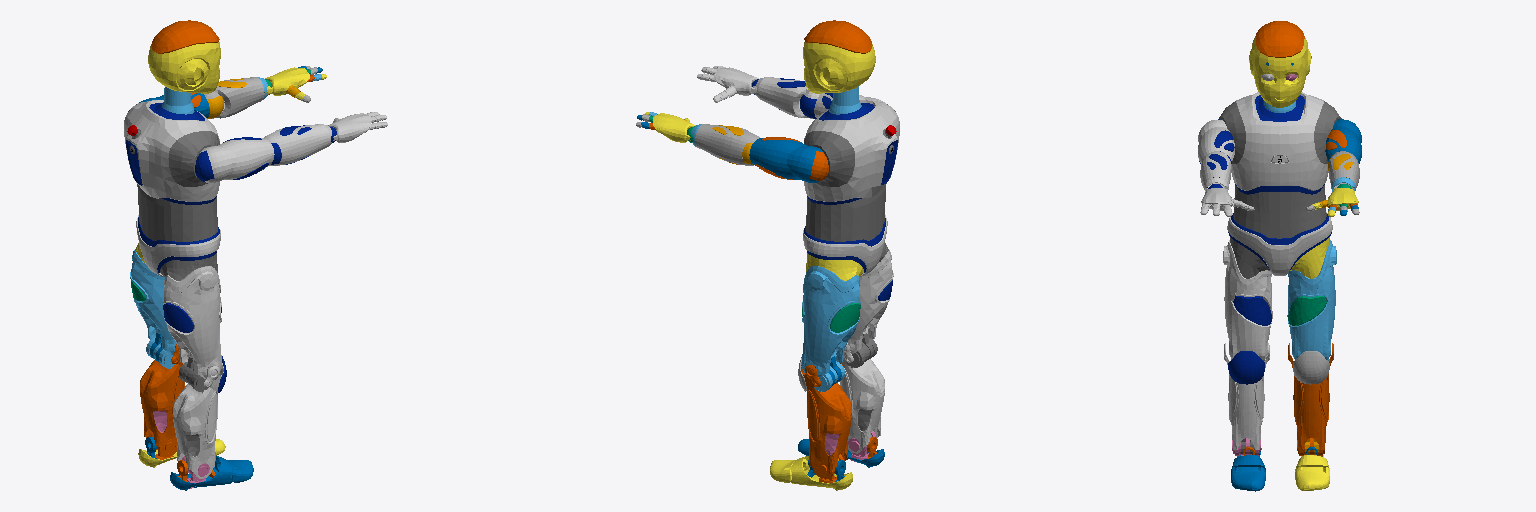
--- Render facts (derived) ---
3 views of the same robot in one strip: view 1: azimuth 30°, elevation 25°; view 2: azimuth 150°, elevation 25°; view 3: azimuth 270°, elevation 25° (orthographic).
Robot: RomeoH37 — 95 links, 94 joints (61 revolute, 33 fixed); root link base_link; default pose: all joints at 0.
Visible links, largest first — view 1: torso, RThigh, body, RTibia, HeadRoll_link, RShoulderYaw_link, LTibia, LThigh, RElbow, HeadRoll_shell, r_ankle, LElbow (+3 smaller); view 2: torso, body, LThigh, LTibia, RTibia, HeadRoll_link, RThigh, LShoulderYaw_link, RElbow, LElbow, HeadRoll_shell, l_ankle (+6 smaller); view 3: torso, body, RThigh, RTibia, LThigh, HeadRoll_link, LTibia, HeadRoll_shell, r_ankle, l_ankle, RShoulderYaw_link, LKneePitch_shell (+5 smaller).
Link boxes in pixels (box(x1,y1,x2,y2)): torso: box(124, 100, 219, 204); RThigh: box(160, 253, 221, 385); body: box(136, 184, 220, 276); RTibia: box(173, 356, 226, 478); HeadRoll_link: box(148, 42, 220, 93); RShoulderYaw_link: box(195, 137, 274, 182); LTibia: box(140, 344, 184, 453); LThigh: box(130, 250, 176, 354); RElbow: box(264, 124, 328, 165); HeadRoll_shell: box(151, 20, 219, 53); r_ankle: box(170, 456, 253, 490); LElbow: box(204, 77, 264, 118); torso: box(804, 99, 899, 204); body: box(803, 185, 887, 276); LThigh: box(802, 266, 860, 377); LTibia: box(801, 363, 851, 477); RTibia: box(840, 338, 884, 453); HeadRoll_link: box(803, 42, 875, 93); RThigh: box(847, 243, 893, 361); LShoulderYaw_link: box(749, 138, 823, 182); RElbow: box(759, 77, 819, 118); LElbow: box(695, 124, 759, 165); HeadRoll_shell: box(804, 20, 872, 53); l_ankle: box(770, 456, 852, 490); torso: box(1219, 92, 1341, 194); body: box(1227, 185, 1332, 275); RThigh: box(1223, 237, 1272, 359); RTibia: box(1224, 343, 1269, 453); LThigh: box(1287, 240, 1336, 359); HeadRoll_link: box(1249, 36, 1311, 107); LTibia: box(1288, 343, 1333, 453); HeadRoll_shell: box(1256, 21, 1304, 57); r_ankle: box(1231, 448, 1265, 491); l_ankle: box(1295, 454, 1329, 490); RShoulderYaw_link: box(1198, 119, 1234, 163); LKneePitch_shell: box(1293, 351, 1329, 384).
Size in the robot's own frame: 0.7703 by 0.4924 by 1.46 metres.
Meshes: 61 distinct files referenced, 61 mesh visuals loaded (22 Collada DAE, 39 OBJ).

URDF robot description (RomeoH37):
<?xml version="1.0" ?>
<!-- =================================================================================== -->
<!-- |    This document was autogenerated by xacro from romeo_robot.xacro              | -->
<!-- |    EDITING THIS FILE BY HAND IS NOT RECOMMENDED                                 | -->
<!-- =================================================================================== -->
<!--******************************************************************
 ****** File automatically generated by generate_urdf.py script ******
 *********************************************************************-->
<robot name="RomeoH37" xmlns:xacro="http://www.ros.org/wiki/xacro">
  <joint name="NeckYaw" type="revolute">
    <parent link="torso"/>
    <child link="NeckYaw_link"/>
    <origin rpy="0 -2.98023e-08 0" xyz="0.0548 0 0.1675"/>
    <axis xyz="0.173651 0 0.984807"/>
    <limit effort="27.72" lower="-2.0595" upper="2.0595" velocity="4.0"/>
  </joint>
  <link name="NeckYaw_link">
    <inertial>
      <mass value="0.377845"/>
      <inertia ixx="0.000279258" ixy="-3.10908e-07" ixz="-1.49231e-05" iyy="0.000260188" iyz="-8.07538e-07" izz="8.41479e-05"/>
      <origin rpy="0 0 0" xyz="-0.00635646 0 -0.030002"/>
    </inertial>
  </link>
  <joint name="NeckPitch" type="revolute">
    <parent link="NeckYaw_link"/>
    <child link="NeckPitch_link"/>
    <origin rpy="0 -2.98023e-08 0" xyz="0 0 0"/>
    <axis xyz="0 1.0 0"/>
    <limit effort="35.0" lower="-0.3142" upper="0.6632" velocity="2.2"/>
  </joint>
  <link name="NeckPitch_link">
    <inertial>
      <mass value="0.345282"/>
      <inertia ixx="0.000476367" ixy="-1.93678e-06" ixz="0.000128915" iyy="0.000443007" iyz="5.81865e-05" izz="0.000304636"/>
      <origin rpy="0 0 0" xyz="0.00372 0 0.04811"/>
    </inertial>
    <visual>
      <geometry>
        <mesh filename="meshes/NeckPitch.obj" scale="1 1 1"/>
      </geometry>
      <origin rpy="0 0 0" xyz="0 0 0"/>
    </visual>
    <collision>
      <geometry>
        <mesh filename="meshes/NeckPitch_0.10.stl" scale="1 1 1"/>
      </geometry>
      <origin rpy="0 0 0" xyz="0 0 0"/>
    </collision>
  </link>
  <joint name="HeadPitch" type="revolute">
    <parent link="NeckPitch_link"/>
    <child link="HeadPitch_link"/>
    <origin rpy="0 0 0" xyz="0 0 0.0951"/>
    <axis xyz="0 1.0 0"/>
    <limit effort="9.40" lower="-0.2571" upper="0.2971" velocity="1.9"/>
  </joint>
  <link name="HeadPitch_link">
    <inertial>
      <mass value="0.158407"/>
      <inertia ixx="2.57346e-05" ixy="1.51196e-07" ixz="-1.52238e-05" iyy="7.43865e-05" iyz="-4.91562e-09" izz="6.6769e-05"/>
      <origin rpy="0 0 0" xyz="0.0014 0 -0.00462"/>
    </inertial>
  </link>

  <!-- Head Roll and additional texture links -->
  <joint name="HeadRoll" type="revolute">
    <parent link="HeadPitch_link"/>
    <child link="HeadRoll_link"/>
    <origin rpy="0 0 0" xyz="0 0 0"/>
    <axis xyz="1.0 0 0"/>
    <limit effort="14.46" lower="-0.4887" upper="0.4887" velocity="1.5"/>
  </joint>
  <link name="HeadRoll_link">
    <inertial>
      <mass value="2.07047"/>
      <inertia ixx="0.00933153" ixy="-3.87986e-05" ixz="0.002764" iyy="0.0110877" iyz="0.000300351" izz="0.00918888"/>
      <origin rpy="0 0 0" xyz="0.01263 0 0.07498"/>
    </inertial>
    <visual>
      <geometry>
        <mesh filename="meshes/HeadRoll_mainskin.obj" scale="1 1 1"/>
      </geometry>
      <origin rpy="0 0 0" xyz="0 0 0"/>
    </visual>
    <collision>
      <geometry>
        <mesh filename="meshes/HeadRoll_0.10.stl" scale="1 1 1"/>
      </geometry>
      <origin rpy="0 0 0" xyz="0 0 0"/>
    </collision>
  </link>
  <joint name="HeadRoll_logo_joint" type="fixed">
    <parent link="HeadRoll_link"/>
    <child link="HeadRoll_logo"/>
    <origin rpy="0 0 0" xyz="0 0 0"/>
  </joint>
  <link name="HeadRoll_logo">
    <inertial>
      <mass value="0"/>
      <inertia ixx="0" ixy="0" ixz="0" iyy="0" iyz="0" izz="0"/>
      <origin rpy="0 0 0" xyz="0 0 0"/>
    </inertial>
    <visual>
      <geometry>
        <mesh filename="meshes/HeadRoll_logo.obj" scale="1 1 1"/>
      </geometry>
      <origin rpy="0 0 0" xyz="0 0 0"/>
    </visual>
  </link>
  <joint name="HeadRoll_shell_joint" type="fixed">
    <parent link="HeadRoll_link"/>
    <child link="HeadRoll_shell"/>
    <origin rpy="0 0 0" xyz="0 0 0"/>
  </joint>
  <link name="HeadRoll_shell">
    <inertial>
      <mass value="0"/>
      <inertia ixx="0" ixy="0" ixz="0" iyy="0" iyz="0" izz="0"/>
      <origin rpy="0 0 0" xyz="0 0 0"/>
    </inertial>
    <visual>
      <geometry>
        <mesh filename="meshes/HeadRoll_shell.obj" scale="1 1 1"/>
      </geometry>
      <origin rpy="0 0 0" xyz="0 0 0"/>
    </visual>
  </link>

  <joint name="gaze_joint" type="fixed">
    <parent link="HeadRoll_link"/>
    <child link="gaze"/>
    <origin rpy="0 0 0" xyz="0.10247 0 0.05425"/>
  </joint>
  <link name="gaze"/>
  <joint name="LHipYaw" type="revolute">
    <parent link="body"/>
    <child link="LHipYaw_link"/>
    <origin rpy="0 0 0" xyz="0.05 0.096 -0.3375"/>
    <axis xyz="0 0 1.0"/>
    <limit effort="103.03" lower="-0.2618" upper="0.2618" velocity="1.045"/>
  </joint>
  <link name="LHipYaw_link">
    <inertial>
      <mass value="0.559188"/>
      <inertia ixx="0.000865336" ixy="-1.1052e-06" ixz="-0.000251445" iyy="0.00143007" iyz="4.25093e-06" izz="0.000851928"/>
      <origin rpy="0 0 0" xyz="-0.00922 -0.00167 0.042"/>
    </inertial>
  </link>
  <joint name="LHipRoll" type="revolute">
    <parent link="LHipYaw_link"/>
    <child link="LHip"/>
    <origin rpy="0 0 0" xyz="0 0 0"/>
    <axis xyz="1.0 0 0"/>
    <limit effort="213.15" lower="-0.2618" upper="0.5236" velocity="2.09"/>
  </joint>
  <link name="LHip">
    <inertial>
      <mass value="0.714778"/>
      <inertia ixx="0.000937272" ixy="-6.73228e-06" ixz="-2.02714e-06" iyy="0.000548117" iyz="1.34974e-06" izz="0.00101855"/>
      <origin rpy="0 0 0" xyz="0.00249 -0.00205 -0.00147"/>
    </inertial>
  </link>

  <!-- LHipPitch joints and links -->
  <joint name="LHipPitch" type="revolute">
    <parent link="LHip"/>
    <child link="LThigh"/>
    <origin rpy="0 0 0" xyz="0 0 0"/>
    <axis xyz="0 1.0 0"/>
    <limit effort="213.15" lower="-1.6581" upper="0.4014" velocity="2.09"/>
  </joint>
  <link name="LThigh">
    <inertial>
      <mass value="4.71096"/>
      <inertia ixx="0.0390706" ixy="-2.41786e-05" ixz="0.0250104" iyy="0.0395116" iyz="0.000712271" izz="0.0122599"/>
      <origin rpy="0 0 0" xyz="-0.02138 -0.00255 -0.14577"/>
    </inertial>
    <visual>
      <geometry>
        <mesh filename="meshes/LHipPitch_mainskin.obj" scale="1 1 1"/>
      </geometry>
      <origin rpy="0 0 0" xyz="0 0 0"/>
    </visual>
    <collision>
      <geometry>
        <mesh filename="meshes/LHipPitch_0.10.stl" scale="1 1 1"/>
      </geometry>
      <origin rpy="0 0 0" xyz="0 0 0"/>
    </collision>
  </link>
  <joint name="LHipPitch_shell_joint" type="fixed">
    <parent link="LThigh"/>
    <child link="LHipPitch_shell"/>
    <origin rpy="0 0 0" xyz="0 0 0"/>
  </joint>
  <link name="LHipPitch_shell">
    <inertial>
      <mass value="0"/>
      <inertia ixx="0" ixy="0" ixz="0" iyy="0" iyz="0" izz="0"/>
      <origin rpy="0 0 0" xyz="0 0 0"/>
    </inertial>
    <visual>
      <geometry>
        <mesh filename="meshes/LHipPitch_shell.obj" scale="1 1 1"/>
      </geometry>
      <origin rpy="0 0 0" xyz="0 0 0"/>
    </visual>
  </link>
  <joint name="LHipPitch_flexibleskin_joint" type="fixed">
    <parent link="LThigh"/>
    <child link="LHipPitch_flexibleskin"/>
    <origin rpy="0 0 0" xyz="0 0 0"/>
  </joint>
  <link name="LHipPitch_flexibleskin">
    <inertial>
      <mass value="0"/>
      <inertia ixx="0" ixy="0" ixz="0" iyy="0" iyz="0" izz="0"/>
      <origin rpy="0 0 0" xyz="0 0 0"/>
    </inertial>
    <visual>
      <geometry>
        <mesh filename="meshes/LHipPitch_flexibleskin.obj" scale="1 1 1"/>
      </geometry>
      <origin rpy="0 0 0" xyz="0 0 0"/>
    </visual>
  </link>
  <joint name="LHipPitch_secondaryskin_joint" type="fixed">
    <parent link="LThigh"/>
    <child link="LHipPitch_secondaryskin"/>
    <origin rpy="0 0 0" xyz="0 0 0"/>
  </joint>
  <link name="LHipPitch_secondaryskin">
    <inertial>
      <mass value="0"/>
      <inertia ixx="0" ixy="0" ixz="0" iyy="0" iyz="0" izz="0"/>
      <origin rpy="0 0 0" xyz="0 0 0"/>
    </inertial>
    <visual>
      <geometry>
        <mesh filename="meshes/LHipPitch_secondaryskin.obj" scale="1 1 1"/>
      </geometry>
      <origin rpy="0 0 0" xyz="0 0 0"/>
    </visual>
  </link>

  <!-- LKneePitch joints and links -->
  <joint name="LKneePitch" type="revolute">
    <parent link="LThigh"/>
    <child link="LTibia"/>
    <origin rpy="0 0 0" xyz="0 0 -0.322"/>
    <axis xyz="0 1.0 0"/>
    <limit effort="292.50" lower="-0.0218" upper="1.9722" velocity="6.0"/>
  </joint>
  <link name="LTibia">
    <inertial>
      <mass value="2.72291"/>
      <inertia ixx="0.0159124" ixy="5.49385e-08" ixz="0.00301963" iyy="0.0158076" iyz="-6.1473e-06" izz="0.00369233"/>
      <origin rpy="0 0 0" xyz="-0.00415 -0.00054 -0.11011"/>
    </inertial>
    <visual>
      <geometry>
        <mesh filename="meshes/LKneePitch_mainskin.obj" scale="1 1 1"/>
      </geometry>
      <origin rpy="0 0 0" xyz="0 0 0"/>
    </visual>
    <collision>
      <geometry>
        <mesh filename="meshes/LKneePitch_0.10.stl" scale="1 1 1"/>
      </geometry>
      <origin rpy="0 0 0" xyz="0 0 0"/>
    </collision>
  </link>
  <joint name="LKneePitch_secondaryskin_joint" type="fixed">
    <parent link="LTibia"/>
    <child link="LKneePitch_secondaryskin"/>
    <origin rpy="0 0 0" xyz="0 0 0"/>
  </joint>
  <link name="LKneePitch_secondaryskin">
    <inertial>
      <mass value="0"/>
      <inertia ixx="0" ixy="0" ixz="0" iyy="0" iyz="0" izz="0"/>
      <origin rpy="0 0 0" xyz="0 0 0"/>
    </inertial>
    <visual>
      <geometry>
        <mesh filename="meshes/LKneePitch_secondaryskin.obj" scale="1 1 1"/>
      </geometry>
      <origin rpy="0 0 0" xyz="0 0 0"/>
    </visual>
  </link>
  <joint name="LKneePitch_shell_joint" type="fixed">
    <parent link="LTibia"/>
    <child link="LKneePitch_shell"/>
    <origin rpy="0 0 0" xyz="0 0 0"/>
  </joint>
  <link name="LKneePitch_shell">
    <inertial>
      <mass value="0"/>
      <inertia ixx="0" ixy="0" ixz="0" iyy="0" iyz="0" izz="0"/>
      <origin rpy="0 0 0" xyz="0 0 0"/>
    </inertial>
    <visual>
      <geometry>
        <mesh filename="meshes/LKneePitch_shell.obj" scale="1 1 1"/>
      </geometry>
      <origin rpy="0 0 0" xyz="0 0 0"/>
    </visual>
  </link>
  <joint name="LKneePitch_secondaryskin2_joint" type="fixed">
    <parent link="LTibia"/>
    <child link="LKneePitch_secondaryskin2"/>
    <origin rpy="0 0 0" xyz="0 0 0"/>
  </joint>
  <link name="LKneePitch_secondaryskin2">
    <inertial>
      <mass value="0"/>
      <inertia ixx="0" ixy="0" ixz="0" iyy="0" iyz="0" izz="0"/>
      <origin rpy="0 0 0" xyz="0 0 0"/>
    </inertial>
    <visual>
      <geometry>
        <mesh filename="meshes/LKneePitch_secondaryskin2.obj" scale="1 1 1"/>
      </geometry>
      <origin rpy="0 0 0" xyz="0 0 0"/>
    </visual>
  </link>
  <joint name="LKneePitch_secondaryskin3_joint" type="fixed">
    <parent link="LTibia"/>
    <child link="LKneePitch_secondaryskin3"/>
    <origin rpy="0 0 0" xyz="0 0 0"/>
  </joint>
  <link name="LKneePitch_secondaryskin3">
    <inertial>
      <mass value="0"/>
      <inertia ixx="0" ixy="0" ixz="0" iyy="0" iyz="0" izz="0"/>
      <origin rpy="0 0 0" xyz="0 0 0"/>
    </inertial>
    <visual>
      <geometry>
        <mesh filename="meshes/LKneePitch_secondaryskin3.obj" scale="1 1 1"/>
      </geometry>
      <origin rpy="0 0 0" xyz="0 0 0"/>
    </visual>
  </link>

  <joint name="LAnklePitch" type="revolute">
    <parent link="LTibia"/>
    <child link="LAnklePitch_link"/>
    <origin rpy="0 0 0" xyz="0 0 -0.29"/>
    <axis xyz="0 1.0 0"/>
    <limit effort="213.15" lower="-0.5149" upper="0.7505" velocity="2.1"/>
  </joint>
  <link name="LAnklePitch_link">
    <inertial>
      <mass value="0.464512"/>
      <inertia ixx="0.000367336" ixy="-1.174e-07" ixz="1.0441e-07" iyy="0.000239298" iyz="-1.23189e-06" izz="0.000425531"/>
      <origin rpy="0 0 0" xyz="0.00132 -0.00117 0.00015"/>
    </inertial>
  </link>

  <!-- LAnkleRoll joints and links -->
  <joint name="LAnkleRoll" type="revolute">
    <parent link="LAnklePitch_link"/>
    <child link="l_ankle"/>
    <origin rpy="0 0 0" xyz="0 0 0"/>
    <axis xyz="1.0 0 0"/>
    <limit effort="213.15" lower="-0.3491" upper="0.3491" velocity="2.1"/>
  </joint>
  <link name="l_ankle">
    <inertial>
      <mass value="1.06764"/>
      <inertia ixx="0.000978167" ixy="-4.97135e-05" ixz="-0.000879138" iyy="0.00586633" iyz="6.13291e-05" izz="0.00589599"/>
      <origin rpy="0 0 0" xyz="0.0483878 0.00120158 -0.0367645"/>
    </inertial>
    <visual>
      <geometry>
        <mesh filename="meshes/LAnkleRoll_mainskin.obj" scale="1 1 1"/>
      </geometry>
      <origin rpy="0 0 0" xyz="0 0 0"/>
    </visual>
    <collision>
      <geometry>
        <mesh filename="meshes/LAnkleRoll_0.10.stl" scale="1 1 1"/>
      </geometry>
      <origin rpy="0 0 0" xyz="0 0 0"/>
    </collision>
  </link>
  <joint name="LAnkleRoll_secondaryskin_joint" type="fixed">
    <parent link="l_ankle"/>
    <child link="LAnkleRoll_secondaryskin"/>
    <origin rpy="0 0 0" xyz="0 0 0"/>
  </joint>
  <link name="LAnkleRoll_secondaryskin">
    <inertial>
      <mass value="0"/>
      <inertia ixx="0" ixy="0" ixz="0" iyy="0" iyz="0" izz="0"/>
      <origin rpy="0 0 0" xyz="0 0 0"/>
    </inertial>
    <visual>
      <geometry>
        <mesh filename="meshes/LAnkleRoll_secondaryskin.obj" scale="1 1 1"/>
      </geometry>
      <origin rpy="0 0 0" xyz="0 0 0"/>
    </visual>
  </link>
  <joint name="LAnkleRoll_secondaryskin2_joint" type="fixed">
    <parent link="l_ankle"/>
    <child link="LAnkleRoll_secondaryskin2"/>
    <origin rpy="0 0 0" xyz="0 0 0"/>
  </joint>
  <link name="LAnkleRoll_secondaryskin2">
    <inertial>
      <mass value="0"/>
      <inertia ixx="0" ixy="0" ixz="0" iyy="0" iyz="0" izz="0"/>
      <origin rpy="0 0 0" xyz="0 0 0"/>
    </inertial>
    <visual>
      <geometry>
        <mesh filename="meshes/LAnkleRoll_secondaryskin2.obj" scale="1 1 1"/>
      </geometry>
      <origin rpy="0 0 0" xyz="0 0 0"/>
    </visual>
  </link>


  <joint name="LLeg_effector_fixedjoint" type="fixed">
    <parent link="l_ankle"/>
    <child link="l_sole"/>
    <origin rpy="0 0 0" xyz="0 0 -0.0651"/>
    <axis xyz="0 0 0"/>
  </joint>
  <link name="l_sole"/>
  <joint name="RHipYaw" type="revolute">
    <parent link="body"/>
    <child link="RHipYaw_link"/>
    <origin rpy="0 0 0" xyz="0.05 -0.096 -0.3375"/>
    <axis xyz="0 0 1.0"/>
    <limit effort="103.03" lower="-0.2618" upper="0.2618" velocity="1.045"/>
  </joint>
  <link name="RHipYaw_link">
    <inertial>
      <mass value="0.559188"/>
      <inertia ixx="0.000865336" ixy="-1.83253e-05" ixz="-0.000251445" iyy="0.00143007" iyz="8.26938e-05" izz="0.000851928"/>
      <origin rpy="0 0 0" xyz="-0.00922 0.00167 0.042"/>
    </inertial>
  </link>
  <joint name="RHipRoll" type="revolute">
    <parent link="RHipYaw_link"/>
    <child link="RHip"/>
    <origin rpy="0 0 0" xyz="0 0 0"/>
    <axis xyz="1.0 0 0"/>
    <limit effort="213.15" lower="-0.5236" upper="0.2618" velocity="2.09"/>
  </joint>
  <link name="RHip">
    <inertial>
      <mass value="0.714778"/>
      <inertia ixx="0.000937272" ixy="5.64884e-07" ixz="-2.02714e-06" iyy="0.000548117" iyz="-2.95823e-06" izz="0.00101855"/>
      <origin rpy="0 0 0" xyz="0.00249 0.00205 -0.00147"/>
    </inertial>
  </link>
  <joint name="RHipPitch" type="revolute">
    <parent link="RHip"/>
    <child link="RThigh"/>
    <origin rpy="0 0 0" xyz="0 0 0"/>
    <axis xyz="0 1.0 0"/>
    <limit effort="213.15" lower="-1.6581" upper="0.4014" velocity="2.09"/>
  </joint>
  <link name="RThigh">
    <inertial>
      <mass value="4.71096"/>
      <inertia ixx="0.0390706" ixy="-0.000537853" ixz="0.0250104" iyy="0.0395116" iyz="-0.00278999" izz="0.0122599"/>
      <origin rpy="0 0 0" xyz="-0.02138 0.00255 -0.14577"/>
    </inertial>
    <visual>
      <geometry>
        <mesh filename="meshes/RHipPitch.dae" scale="1 1 1"/>
      </geometry>
      <origin rpy="0 0 0" xyz="0 0 0"/>
    </visual>
    <collision>
      <geometry>
        <mesh filename="meshes/RHipPitch_0.10.stl" scale="1 1 1"/>
      </geometry>
      <origin rpy="0 0 0" xyz="0 0 0"/>
    </collision>
  </link>
  <joint name="RKneePitch" type="revolute">
    <parent link="RThigh"/>
    <child link="RTibia"/>
    <origin rpy="0 0 0" xyz="0 0 -0.322"/>
    <axis xyz="0 1.0 0"/>
    <limit effort="292.50" lower="-0.0218" upper="1.9722" velocity="6.0"/>
  </joint>
  <link name="RTibia">
    <inertial>
      <mass value="2.72291"/>
      <inertia ixx="0.0159124" ixy="-1.21492e-05" ixz="0.00301963" iyy="0.0158076" iyz="-0.000329953" izz="0.00369233"/>
      <origin rpy="0 0 0" xyz="-0.00415 0.00054 -0.11011"/>
    </inertial>
    <visual>
      <geometry>
        <mesh filename="meshes/RKneePitch.dae" scale="1 1 1"/>
      </geometry>
      <origin rpy="0 0 0" xyz="0 0 0"/>
    </visual>
    <collision>
      <geometry>
        <mesh filename="meshes/RKneePitch_0.10.stl" scale="1 1 1"/>
      </geometry>
      <origin rpy="0 0 0" xyz="0 0 0"/>
    </collision>
  </link>
  <joint name="RAnklePitch" type="revolute">
    <parent link="RTibia"/>
    <child link="RAnklePitch_link"/>
    <origin rpy="0 0 0" xyz="0 0 -0.29"/>
    <axis xyz="0 1.0 0"/>
    <limit effort="213.15" lower="-0.5149" upper="0.7505" velocity="2.1"/>
  </joint>
  <link name="RAnklePitch_link">
    <inertial>
      <mass value="0.464512"/>
      <inertia ixx="0.000367336" ixy="1.31739e-06" ixz="1.0441e-07" iyy="0.000239298" iyz="-1.06885e-06" izz="0.000425531"/>
      <origin rpy="0 0 0" xyz="0.00132 0.00117 0.00015"/>
    </inertial>
  </link>

  <!-- RAnkleRoll joints and links -->
  <joint name="RAnkleRoll" type="revolute">
    <parent link="RAnklePitch_link"/>
    <child link="r_ankle"/>
    <origin rpy="0 0 0" xyz="0 0 0"/>
    <axis xyz="1.0 0 0"/>
    <limit effort="213.15" lower="-0.3491" upper="0.3491" velocity="2.1"/>
  </joint>
  <link name="r_ankle">
    <inertial>
      <mass value="1.06764"/>
      <inertia ixx="0.000978167" ixy="-0.000173863" ixz="-0.000879138" iyy="0.00586633" iyz="0.000155656" izz="0.00589599"/>
      <origin rpy="0 0 0" xyz="0.0483878 -0.00120158 -0.0367645"/>
    </inertial>
    <visual>
      <geometry>
        <mesh filename="meshes/RAnkleRoll_mainskin.obj" scale="1 1 1"/>
      </geometry>
      <origin rpy="0 0 0" xyz="0 0 0"/>
    </visual>
    <collision>
      <geometry>
        <mesh filename="meshes/RAnkleRoll_0.10.stl" scale="1 1 1"/>
      </geometry>
      <origin rpy="0 0 0" xyz="0 0 0"/>
    </collision>
  </link>
  <joint name="RAnkleRoll_secondaryskin_joint" type="fixed">
    <parent link="r_ankle"/>
    <child link="RAnkleRoll_secondaryskin"/>
    <origin rpy="0 0 0" xyz="0 0 0"/>
  </joint>
  <link name="RAnkleRoll_secondaryskin">
    <inertial>
      <mass value="0"/>
      <inertia ixx="0" ixy="0" ixz="0" iyy="0" iyz="0" izz="0"/>
      <origin rpy="0 0 0" xyz="0 0 0"/>
    </inertial>
    <visual>
      <geometry>
        <mesh filename="meshes/RAnkleRoll_secondaryskin.obj" scale="1 1 1"/>
      </geometry>
      <origin rpy="0 0 0" xyz="0 0 0"/>
    </visual>
  </link>
  <joint name="RAnkleRoll_secondaryskin2_joint" type="fixed">
    <parent link="r_ankle"/>
    <child link="RAnkleRoll_secondaryskin2"/>
    <origin rpy="0 0 0" xyz="0 0 0"/>
  </joint>
  <link name="RAnkleRoll_secondaryskin2">
    <inertial>
      <mass value="0"/>
      <inertia ixx="0" ixy="0" ixz="0" iyy="0" iyz="0" izz="0"/>
      <origin rpy="0 0 0" xyz="0 0 0"/>
    </inertial>
    <visual>
      <geometry>
        <mesh filename="meshes/RAnkleRoll_secondaryskin2.obj" scale="1 1 1"/>
      </geometry>
      <origin rpy="0 0 0" xyz="0 0 0"/>
    </visual>
  </link>

  <joint name="RLeg_effector_fixedjoint" type="fixed">
    <parent link="r_ankle"/>
    <child link="r_sole"/>
    <origin rpy="0 0 0" xyz="0 0 -0.0651"/>
    <axis xyz="0 0 0"/>
  </joint>
  <link name="r_sole"/>
  <link name="base_link"/>
  <joint name="base_link_fixedjoint" type="fixed">
    <parent link="base_link"/>
    <child link="torso"/>
    <origin rpy="0 0 0" xyz="0 0 0"/>
    <axis xyz="0 0 0"/>
  </joint>
  <link name="torso">
    <inertial>
      <mass value="5.85463"/>
      <inertia ixx="0.0587116" ixy="-3.02711e-06" ixz="0.0101426" iyy="0.0326812" iyz="-0.000132541" izz="0.0637705"/>
      <origin rpy="0 0 0" xyz="0.01512 0 0.06743"/>
    </inertial>
    <visual>
      <geometry>
        <mesh filename="meshes/Torso.dae" scale="1 1 1"/>
      </geometry>
      <origin rpy="0 0 0" xyz="0 0 0"/>
    </visual>
    <collision>
      <geometry>
        <mesh filename="meshes/Torso_0.10.stl" scale="1 1 1"/>
      </geometry>
      <origin rpy="0 0 0" xyz="0 0 0"/>
    </collision>
  </link>
  <joint name="TrunkYaw" type="revolute">
    <parent link="torso"/>
    <child link="body"/>
    <origin rpy="0 0 0" xyz="0 0 0"/>
    <axis xyz="0 0 1.0"/>
    <limit effort="49.93" lower="-0.7575" upper="0.7575" velocity="1.5"/>
  </joint>
  <link name="body">
    <inertial>
      <mass value="5.11337"/>
      <inertia ixx="0.0564204" ixy="7.26322e-05" ixz="-0.0575115" iyy="0.0521042" iyz="-3.39086e-05" izz="0.021185"/>
      <origin rpy="0 0 0" xyz="0.02825 0 -0.16653"/>
    </inertial>
    <visual>
      <geometry>
        <mesh filename="meshes/TrunkYaw.dae" scale="1 1 1"/>
      </geometry>
      <origin rpy="0 0 0" xyz="0 0 0"/>
    </visual>
    <collision>
      <geometry>
        <mesh filename="meshes/TrunkYaw_0.10.stl" scale="1 1 1"/>
      </geometry>
      <origin rpy="0 0 0" xyz="0 0 0"/>
    </collision>
  </link>
  <joint name="LShoulderPitch" type="revolute">
    <parent link="torso"/>
    <child link="LShoulder"/>
    <origin rpy="1.49012e-08 7.45058e-09 0" xyz="0.049862 0.19 0.073851"/>
    <axis xyz="0.417025 0.895055 -0.15801"/>
    <limit effort="21.94" lower="-1.3491" upper="2.2462" velocity="2.2"/>
  </joint>
  <link name="LShoulder">
    <inertial>
      <mass value="0.541429"/>
      <inertia ixx="0.00033428" ixy="-9.92972e-05" ixz="9.98217e-06" iyy="0.000188073" iyz="2.14339e-05" izz="0.000360929"/>
      <origin rpy="0 0 0" xyz="-0.0112798 -0.0260712 0.00468882"/>
    </inertial>
  </link>

  <!-- LShoulderYaw links and joints -->
  <joint name="LShoulderYaw" type="revolute">
    <parent link="LShoulder"/>
    <child link="LShoulderYaw_link"/>
    <origin rpy="2.98023e-08 1.11759e-08 -5.58793e-08" xyz="0 0 0"/>
    <axis xyz="0.0401398 0.155542 0.987013"/>
    <limit effort="15.16" lower="-0.5768" upper="0.9242" velocity="4.0"/>
  </joint>
  <link name="LShoulderYaw_link">
    <inertial>
      <mass value="0.861545"/>
      <inertia ixx="0.00118557" ixy="0.000596133" ixz="0.0011173" iyy="0.00312162" iyz="-2.05919e-05" izz="0.00289955"/>
      <origin rpy="0 0 0" xyz="0.0965281 0.00465308 0.00168775"/>
    </inertial>
    <visual>
      <geometry>
        <mesh filename="meshes/LShoulderYaw_mainskin.obj" scale="1 1 1"/>
      </geometry>
      <origin rpy="0 0 0" xyz="0 0 0"/>
    </visual>
    <collision>
      <geometry>
        <mesh filename="meshes/LShoulderYaw_0.10.stl" scale="1 1 1"/>
      </geometry>
      <origin rpy="0 0 0" xyz="0 0 0"/>
    </collision>
  </link>
  <joint name="LShoulderYaw_shell_joint" type="fixed">
    <parent link="LShoulderYaw_link"/>
    <child link="LShoulderYaw_shell"/>
    <origin rpy="0 0 0" xyz="0 0 0"/>
  </joint>
  <link name="LShoulderYaw_shell">
    <inertial>
      <mass value="0"/>
      <inertia ixx="0" ixy="0" ixz="0" iyy="0" iyz="0" izz="0"/>
      <origin rpy="0 0 0" xyz="0 0 0"/>
    </inertial>
    <visual>
      <geometry>
        <mesh filename="meshes/LShoulderYaw_shell.obj" scale="1 1 1"/>
      </geometry>
      <origin rpy="0 0 0" xyz="0 0 0"/>
    </visual>
  </link>

  <joint name="LElbowRoll" type="revolute">
    <parent link="LShoulderYaw_link"/>
    <child link="LForeArm"/>
    <origin rpy="-2.56114e-09 0 -9.31322e-09" xyz="0.210824 7.40511e-09 -0.008631"/>
    <axis xyz="0.998889 0.0139984 0.044995"/>
    <limit effort="13.86" lower="-2.2148" upper="1.9042" velocity="3.7"/>
  </joint>
  <link name="LForeArm">
    <inertial>
      <mass value="0.600439"/>
      <inertia ixx="0.000207598" ixy="1.2053e-05" ixz="-1.86312e-05" iyy="0.000507683" iyz="1.56171e-06" izz="0.000456309"/>
      <origin rpy="0 0 0" xyz="-0.0348859 -0.0011589 -0.00148134"/>
    </inertial>
  </link>

  <!-- LElbowYaw joints and links -->
  <joint name="LElbowYaw" type="revolute">
    <parent link="LForeArm"/>
    <child link="LElbow"/>
    <origin rpy="-1.49504e-08 -1.86264e-08 2.12577e-09" xyz="0 0 0"/>
    <axis xyz="-0.0449994 0 0.998987"/>
    <limit effort="15.16" lower="-1.5228" upper="0.0044" velocity="4.0"/>
  </joint>
  <link name="LElbow">
    <inertial>
      <mass value="0.460203"/>
      <inertia ixx="0.000503576" ixy="0.000585803" ixz="3.19975e-05" iyy="0.00127777" iyz="3.67296e-05" izz="0.00122813"/>
      <origin rpy="0 0 0" xyz="0.068523 0.0097 0.00458766"/>
    </inertial>
    <visual>
      <geometry>
        <mesh filename="meshes/LElbowYaw_mainskin.obj" scale="1 1 1"/>
      </geometry>
      <origin rpy="0 0 0" xyz="0 0 0"/>
    </visual>
    <collision>
      <geometry>
        <mesh filename="meshes/LElbowYaw_0.10.stl" scale="1 1 1"/>
      </geometry>
      <origin rpy="0 0 0" xyz="0 0 0"/>
    </collision>
  </link>
  <joint name="LElbowYaw_shell_joint" type="fixed">
    <parent link="LElbow"/>
    <child link="LElbowYaw_shell"/>
    <origin rpy="0 0 0" xyz="0 0 0"/>
  </joint>
  <link name="LElbowYaw_shell">
    <inertial>
      <mass value="0"/>
      <inertia ixx="0" ixy="0" ixz="0" iyy="0" iyz="0" izz="0"/>
      <origin rpy="0 0 0" xyz="0 0 0"/>
    </inertial>
    <visual>
      <geometry>
        <mesh filename="meshes/LElbowYaw_shell.obj" scale="1 1 1"/>
      </geometry>
      <origin rpy="0 0 0" xyz="0 0 0"/>
    </visual>
  </link>

  <joint name="LWristRoll" type="revolute">
    <parent link="LElbow"/>
    <child link="LWristRoll_link"/>
    <origin rpy="0 -7.45058e-09 0" xyz="0.190404 0 0.008631"/>
    <axis xyz="0.998987 0 0.0449994"/>
    <limit effort="7.23" lower="-3.6303" upper="0.4887" velocity="1.1"/>
  </joint>
  <link name="LWristRoll_link">
    <inertial>
      <mass value="0.218316"/>
      <inertia ixx="0.000100812" ixy="-1.81881e-06" ixz="-4.56681e-05" iyy="0.000384336" iyz="-1.11019e-07" izz="0.000366084"/>
      <origin rpy="0 0 0" xyz="-0.0592449 6e-05 -0.00144745"/>
    </inertial>
    <visual>
      <geometry>
        <mesh filename="meshes/LWristRoll.obj" scale="1 1 1"/>
      </geometry>
      <origin rpy="0 0 0" xyz="0 0 0"/>
    </visual>
    <collision>
      <geometry>
        <mesh filename="meshes/LWristRoll_0.10.stl" scale="1 1 1"/>
      </geometry>
      <origin rpy="0 0 0" xyz="0 0 0"/>
    </collision>
  </link>
  <joint name="LWristYaw" type="revolute">
    <parent link="LWristRoll_link"/>
    <child link="LWristYaw_link"/>
    <origin rpy="0 0 0" xyz="0 0 0"/>
    <axis xyz="-0.0449994 0 0.998987"/>
    <limit effort="2.01" lower="-0.4014" upper="0.4014" velocity="2.26"/>
  </joint>
  <link name="LWristYaw_link">
    <inertial>
      <mass value="0.0758774"/>
      <inertia ixx="1.55687e-05" ixy="-5.1829e-08" ixz="-8.72923e-07" iyy="3.52487e-05" iyz="1.94513e-08" izz="3.4791e-05"/>
      <origin rpy="0 0 0" xyz="-0.00657144 0.00017 -0.000115829"/>
    </inertial>
    <visual>
      <geometry>
        <mesh filename="meshes/LWristYaw.obj" scale="1 1 1"/>
      </geometry>
      <origin rpy="0 0 0" xyz="0 0 0"/>
    </visual>
    <collision>
      <geometry>
        <mesh filename="meshes/LWristYaw_0.10.stl" scale="1 1 1"/>
      </geometry>
      <origin rpy="0 0 0" xyz="0 0 0"/>
    </collision>
  </link>
  <joint name="LWristPitch" type="revolute">
    <parent link="LWristYaw_link"/>
    <child link="l_wrist"/>
    <origin rpy="0 0 0" xyz="0 0 0"/>
    <axis xyz="0 1.0 0"/>
    <limit effort="1.39" lower="-0.988" upper="0.8969" velocity="3.75"/>
  </joint>
  <link name="l_wrist">
    <inertial>
      <mass value="0.442191"/>
      <inertia ixx="0.000404603" ixy="-0.000404247" ixz="1.89685e-05" iyy="0.000829354" iyz="7.81042e-05" izz="0.00102014"/>
      <origin rpy="0 0 0" xyz="0.07358 -0.00628 -0.00098"/>
    </inertial>
    <visual>
      <geometry>
        <mesh filename="meshes/LWristPitch.obj" scale="1 1 1"/>
      </geometry>
      <origin rpy="0 0 0" xyz="0 0 0"/>
    </visual>
    <collision>
      <geometry>
        <mesh filename="meshes/LWristPitch_0.10.stl" scale="1 1 1"/>
      </geometry>
      <origin rpy="0 0 0" xyz="0 0 0"/>
    </collision>
  </link>
  <joint name="LHand" type="revolute">
    <parent link="l_wrist"/>
    <child link="l_gripper"/>
    <origin rpy="1.5708 0.0450146 -3.14159" xyz="-0.0579412 -0.0159 -0.00260997"/>
    <axis xyz="1.0 0 0"/>
    <limit effort="0.649997" lower="0" upper="1.0" velocity="59.8925"/>
  </joint>
  <link name="l_gripper">
    <inertial>
      <mass value="2e-06"/>
      <inertia ixx="1.1e-09" ixy="0" ixz="0" iyy="1.1e-09" iyz="0" izz="1.1e-09"/>
    </inertial>
  </link>
  <joint name="RShoulderPitch" type="revolute">
    <parent link="torso"/>
    <child link="RShoulder"/>
    <origin rpy="-1.49012e-08 7.45058e-09 0" xyz="0.049862 -0.19 0.073851"/>
    <axis xyz="-0.417025 0.895055 0.15801"/>
    <limit effort="21.94" lower="-1.4554" upper="2.1399" velocity="2.2"/>
  </joint>
  <link name="RShoulder">
    <inertial>
      <mass value="0.541429"/>
      <inertia ixx="0.00032868" ixy="0.000102539" ixz="1.9336e-05" iyy="0.000199958" iyz="-3.81835e-05" izz="0.000354645"/>
      <origin rpy="0 0 0" xyz="-0.0112798 0.0260712 0.00468882"/>
    </inertial>
  </link>
  <joint name="RShoulderYaw" type="revolute">
    <parent link="RShoulder"/>
    <child link="RShoulderYaw_link"/>
    <origin rpy="-2.98023e-08 1.49012e-08 -6.42613e-08" xyz="0 0 0"/>
    <axis xyz="0.0401398 -0.155542 0.987014"/>
    <limit effort="15.16" lower="-1.0985" upper="0.4025" velocity="4.0"/>
  </joint>
  <link name="RShoulderYaw_link">
    <inertial>
      <mass value="0.861545"/>
      <inertia ixx="0.00118857" ixy="-0.00036285" ixz="0.001154" iyy="0.00311916" iyz="1.86519e-05" izz="0.002899"/>
      <origin rpy="0 0 0" xyz="0.0965281 -0.00465308 0.00168775"/>
    </inertial>
    <visual>
      <geometry>
        <mesh filename="meshes/RShoulderYaw.dae" scale="1 1 1"/>
      </geometry>
      <origin rpy="0 0 0" xyz="0 0 0"/>
    </visual>
    <collision>
      <geometry>
        <mesh filename="meshes/RShoulderYaw_0.10.stl" scale="1 1 1"/>
      </geometry>
      <origin rpy="0 0 0" xyz="0 0 0"/>
    </collision>
  </link>
  <joint name="RElbowRoll" type="revolute">
    <parent link="RShoulderYaw_link"/>
    <child link="RForeArm"/>
    <origin rpy="6.69388e-09 7.45058e-09 -7.91624e-08" xyz="0.210824 -1.48548e-08 -0.008631"/>
    <axis xyz="0.998889 -0.0139984 0.044995"/>
    <limit effort="13.86" lower="-1.9047" upper="2.2143" velocity="3.7"/>
  </joint>
  <link name="RForeArm">
    <inertial>
      <mass value="0.600439"/>
      <inertia ixx="0.000207722" ixy="-7.62167e-06" ixz="-1.85932e-05" iyy="0.000507556" iyz="9.54211e-07" izz="0.000456313"/>
      <origin rpy="0 0 0" xyz="-0.0348859 0.0011589 -0.00148134"/>
    </inertial>
  </link>
  <joint name="RElbowYaw" type="revolute">
    <parent link="RForeArm"/>
    <child link="RElbow"/>
    <origin rpy="1.49504e-08 -1.86264e-08 -2.12577e-09" xyz="0 0 0"/>
    <axis xyz="-0.0449994 0 0.998987"/>
    <limit effort="15.16" lower="-0.0047" upper="1.5225" velocity="4.0"/>
  </joint>
  <link name="RElbow">
    <inertial>
      <mass value="0.460203"/>
      <inertia ixx="0.000503576" ixy="-2.59661e-05" ixz="3.19975e-05" iyy="0.00127777" iyz="-4.2287e-06" izz="0.00122813"/>
      <origin rpy="0 0 0" xyz="0.068523 -0.0097 0.00458766"/>
    </inertial>
    <visual>
      <geometry>
        <mesh filename="meshes/RElbowYaw.dae" scale="1 1 1"/>
      </geometry>
      <origin rpy="0 0 0" xyz="0 0 0"/>
    </visual>
    <collision>
      <geometry>
        <mesh filename="meshes/RElbowYaw_0.10.stl" scale="1 1 1"/>
      </geometry>
      <origin rpy="0 0 0" xyz="0 0 0"/>
    </collision>
  </link>
  <joint name="RWristRoll" type="revolute">
    <parent link="RElbow"/>
    <child link="RWristRoll_link"/>
    <origin rpy="0 -7.45058e-09 0" xyz="0.190404 0 0.008631"/>
    <axis xyz="0.998987 0 0.0449994"/>
    <limit effort="7.23" lower="-0.4887" upper="3.6303" velocity="1.1"/>
  </joint>
  <link name="RWristRoll_link">
    <inertial>
      <mass value="0.218316"/>
      <inertia ixx="0.000100812" ixy="-2.66721e-07" ixz="-4.56681e-05" iyy="0.000384336" iyz="-7.30984e-08" izz="0.000366084"/>
      <origin rpy="0 0 0" xyz="-0.0592449 -6e-05 -0.00144745"/>
    </inertial>
    <visual>
      <geometry>
        <mesh filename="meshes/RWristRoll.dae" scale="1 1 1"/>
      </geometry>
      <origin rpy="0 0 0" xyz="0 0 0"/>
    </visual>
    <collision>
      <geometry>
        <mesh filename="meshes/RWristRoll_0.10.stl" scale="1 1 1"/>
      </geometry>
      <origin rpy="0 0 0" xyz="0 0 0"/>
    </collision>
  </link>
  <joint name="RWristYaw" type="revolute">
    <parent link="RWristRoll_link"/>
    <child link="RWristYaw_link"/>
    <origin rpy="0 0 0" xyz="0 0 0"/>
    <axis xyz="-0.0449994 0 0.998987"/>
    <limit effort="2.01" lower="-0.4014" upper="0.4014" velocity="2.26"/>
  </joint>
  <link name="RWristYaw_link">
    <inertial>
      <mass value="0.0758774"/>
      <inertia ixx="1.55687e-05" ixy="1.17703e-07" ixz="-8.72923e-07" iyy="3.52487e-05" iyz="2.24395e-08" izz="3.4791e-05"/>
      <origin rpy="0 0 0" xyz="-0.00657144 -0.00017 -0.000115829"/>
    </inertial>
    <visual>
      <geometry>
        <mesh filename="meshes/RWristYaw.dae" scale="1 1 1"/>
      </geometry>
      <origin rpy="0 0 0" xyz="0 0 0"/>
    </visual>
    <collision>
      <geometry>
        <mesh filename="meshes/RWristYaw_0.10.stl" scale="1 1 1"/>
      </geometry>
      <origin rpy="0 0 0" xyz="0 0 0"/>
    </collision>
  </link>
  <joint name="RWristPitch" type="revolute">
    <parent link="RWristYaw_link"/>
    <child link="r_wrist"/>
    <origin rpy="0 0 0" xyz="0 0 0"/>
    <axis xyz="0 1.0 0"/>
    <limit effort="1.39" lower="-0.9868" upper="0.8981" velocity="3.75"/>
  </joint>
  <link name="r_wrist">
    <inertial>
      <mass value="0.442191"/>
      <inertia ixx="0.000404603" ixy="4.4107e-06" ixz="1.89685e-05" iyy="0.000829354" iyz="7.26613e-05" izz="0.00102014"/>
      <origin rpy="0 0 0" xyz="0.07358 0.00628 -0.00098"/>
    </inertial>
    <visual>
      <geometry>
        <mesh filename="meshes/RWristPitch.dae" scale="1 1 1"/>
      </geometry>
      <origin rpy="0 0 0" xyz="0 0 0"/>
    </visual>
    <collision>
      <geometry>
        <mesh filename="meshes/RWristPitch_0.10.stl" scale="1 1 1"/>
      </geometry>
      <origin rpy="0 0 0" xyz="0 0 0"/>
    </collision>
  </link>
  <joint name="RHand" type="revolute">
    <parent link="r_wrist"/>
    <child link="r_gripper"/>
    <origin rpy="1.5708 0.0450146 -3.14159" xyz="-0.0579412 -0.0159 -0.00260997"/>
    <axis xyz="1.0 0 0"/>
    <limit effort="0.649997" lower="0" upper="1.0" velocity="59.8925"/>
  </joint>
  <link name="r_gripper">
    <inertial>
      <mass value="2e-06"/>
      <inertia ixx="1.1e-09" ixy="0" ixz="0" iyy="1.1e-09" iyz="0" izz="1.1e-09"/>
    </inertial>
  </link>
  <joint name="LEyeYaw" type="revolute">
    <parent link="HeadRoll_link"/>
    <child link="LEyeYaw_link"/>
    <origin rpy="0 0 0" xyz="0.08948 0.03192 0.05425"/>
    <axis xyz="0 0 1.0"/>
    <limit effort="1.752" lower="-0.523599" upper="0.523599" velocity="293.215"/>
  </joint>
  <link name="LEyeYaw_link">
    <inertial>
      <mass value="0.01"/>
      <inertia ixx="1e-09" ixy="0" ixz="0" iyy="1e-09" iyz="0" izz="1e-09"/>
      <origin rpy="0 -0 1.5708" xyz="0 0 0"/>
    </inertial>
  </link>
  <joint name="LEyePitch" type="revolute">
    <parent link="LEyeYaw_link"/>
    <child link="LEye"/>
    <origin rpy="0 0 0" xyz="0 0 0"/>
    <axis xyz="0 1.0 0"/>
    <limit effort="1.752" lower="-0.349066" upper="0.349066" velocity="293.215"/>
  </joint>
  <link name="LEye">
    <inertial>
      <mass value="0.01"/>
      <inertia ixx="1e-09" ixy="0" ixz="0" iyy="1e-09" iyz="0" izz="1e-09"/>
      <origin rpy="1.5708 -0 -3.14159" xyz="0 0 0"/>
    </inertial>
    <visual>
      <geometry>
        <mesh filename="meshes/LEyePitch.obj" scale="1 1 1"/>
      </geometry>
      <origin rpy="0 0 0" xyz="0 0 0"/>
    </visual>
    <collision>
      <geometry>
        <mesh filename="meshes/LEyePitch_0.10.stl" scale="1 1 1"/>
      </geometry>
      <origin rpy="0 0 0" xyz="0 0 0"/>
    </collision>
  </link>
  <joint name="REyeYaw" type="revolute">
    <parent link="HeadRoll_link"/>
    <child link="REyeYaw_link"/>
    <origin rpy="0 0 0" xyz="0.08948 -0.03192 0.05425"/>
    <axis xyz="0 0 1.0"/>
    <limit effort="1.752" lower="-0.523599" upper="0.523599" velocity="293.215"/>
  </joint>
  <link name="REyeYaw_link">
    <inertial>
      <mass value="0.01"/>
      <inertia ixx="1e-09" ixy="0" ixz="0" iyy="1e-09" iyz="0" izz="1e-09"/>
      <origin rpy="0 -0 1.5708" xyz="0 0 0"/>
    </inertial>
  </link>
  <joint name="REyePitch" type="revolute">
    <parent link="REyeYaw_link"/>
    <child link="REye"/>
    <origin rpy="0 0 0" xyz="0 0 0"/>
    <axis xyz="0 1.0 0"/>
    <limit effort="1.752" lower="-0.349066" upper="0.349066" velocity="293.215"/>
  </joint>
  <link name="REye">
    <inertial>
      <mass value="0.01"/>
      <inertia ixx="1e-09" ixy="0" ixz="0" iyy="1e-09" iyz="0" izz="1e-09"/>
      <origin rpy="1.5708 -0 -3.14159" xyz="0 0 0"/>
    </inertial>
    <visual>
      <geometry>
        <mesh filename="meshes/REyePitch.dae" scale="1 1 1"/>
      </geometry>
      <origin rpy="0 0 0" xyz="0 0 0"/>
    </visual>
    <collision>
      <geometry>
        <mesh filename="meshes/REyePitch_0.10.stl" scale="1 1 1"/>
      </geometry>
      <origin rpy="0 0 0" xyz="0 0 0"/>
    </collision>
  </link>
  <!-- <link name="RFsrFToeRearRight_frame">
    <collision>
      <geometry>
        <box size="0.01 0.01 0.005"/>
      </geometry>
      <origin rpy="0 0 0" xyz="0 0 0"/>
    </collision>
    <inertial>
      <mass value="2e-06"/>
      <inertia ixx="1.1e-09" ixy="0" ixz="0" iyy="1.1e-09" iyz="0" izz="1.1e-09"/>
    </inertial>
  </link>
  <joint name="RFoot/FSR/ToeRearRight_sensor_fixedjoint" type="fixed">
    <parent link="r_ankle"/>
    <child link="RFsrFToeRearRight_frame"/>
    <origin rpy="0 0 0" xyz="0.11898 -0.0335 -0.06226"/>
    <axis xyz="0 0 0"/>
  </joint> -->
  <link name="CameraLeftEye_frame"/>
  <joint name="CameraLeftEye_sensor_fixedjoint" type="fixed">
    <parent link="LEye"/>
    <child link="CameraLeftEye_frame"/>
    <origin rpy="0 0 0" xyz="0.01299 0 0"/>
    <axis xyz="0 0 0"/>
  </joint>
  <link name="ImuHeadGyrometer_frame"/>
  <joint name="GyrometerHead_sensor_fixedjoint" type="fixed">
    <parent link="HeadRoll_link"/>
    <child link="ImuHeadGyrometer_frame"/>
    <origin rpy="0 0 1.5708" xyz="-0.01135 -0.04225 0.16011"/>
    <axis xyz="0 0 0"/>
  </joint>
  <!-- <link name="RFsrRearCenter_frame">
    <collision>
      <geometry>
        <box size="0.01 0.01 0.005"/>
      </geometry>
      <origin rpy="0 0 0" xyz="0 0 0"/>
    </collision>
    <inertial>
      <mass value="2e-06"/>
      <inertia ixx="1.1e-09" ixy="0" ixz="0" iyy="1.1e-09" iyz="0" izz="1.1e-09"/>
    </inertial>
  </link>
  <joint name="RFoot/FSR/CenterRear_sensor_fixedjoint" type="fixed">
    <parent link="r_ankle"/>
    <child link="RFsrRearCenter_frame"/>
    <origin rpy="0 0 0" xyz="0.01448 -0.0145 -0.06226"/>
    <axis xyz="0 0 0"/>
  </joint> -->
  <!-- <link name="RFsrFrontCenter_frame">
    <collision>
      <geometry>
        <box size="0.01 0.01 0.005"/>
      </geometry>
      <origin rpy="0 0 0" xyz="0 0 0"/>
    </collision>
    <inertial>
      <mass value="2e-06"/>
      <inertia ixx="1.1e-09" ixy="0" ixz="0" iyy="1.1e-09" iyz="0" izz="1.1e-09"/>
    </inertial>
  </link>
  <joint name="RFoot/FSR/CenterFront_sensor_fixedjoint" type="fixed">
    <parent link="r_ankle"/>
    <child link="RFsrFrontCenter_frame"/>
    <origin rpy="0 0 0" xyz="0.07498 -0.01275 -0.06226"/>
    <axis xyz="0 0 0"/>
  </joint> -->
  <link name="CameraLeftEye_optical_frame"/>
  <joint name="CameraLeftEye_optical_frame_fixedjoint" type="fixed">
    <parent link="CameraLeftEye_frame"/>
    <child link="CameraLeftEye_optical_frame"/>
    <origin rpy="-1.57079632679 0 -1.57079632679" xyz="0 0 0"/>
  </joint>
  <!-- <link name="LFsrHeelRight_frame">
    <collision>
      <geometry>
        <box size="0.01 0.01 0.005"/>
      </geometry>
      <origin rpy="0 0 0" xyz="0 0 0"/>
    </collision>
    <inertial>
      <mass value="2e-06"/>
      <inertia ixx="1.1e-09" ixy="0" ixz="0" iyy="1.1e-09" iyz="0" izz="1.1e-09"/>
    </inertial>
  </link>
  <joint name="LFoot/FSR/HeelRight_sensor_fixedjoint" type="fixed">
    <parent link="l_ankle"/>
    <child link="LFsrHeelRight_frame"/>
    <origin rpy="0 0 0" xyz="-0.04602 -0.017 -0.06226"/>
    <axis xyz="0 0 0"/>
  </joint> -->
  <link name="CameraRightEye_frame"/>
  <joint name="CameraRightEye_sensor_fixedjoint" type="fixed">
    <parent link="REye"/>
    <child link="CameraRightEye_frame"/>
    <origin rpy="0 0 0" xyz="0.01299 0 0"/>
    <axis xyz="0 0 0"/>
  </joint>
  <link name="CameraRight_optical_frame"/>
  <joint name="CameraRight_optical_frame_fixedjoint" type="fixed">
    <parent link="CameraRight_frame"/>
    <child link="CameraRight_optical_frame"/>
    <origin rpy="-1.57079632679 0 -1.57079632679" xyz="0 0 0"/>
  </joint>
  <link name="CameraRightEye_optical_frame"/>
  <joint name="CameraRightEye_optical_frame_fixedjoint" type="fixed">
    <parent link="CameraRightEye_frame"/>
    <child link="CameraRightEye_optical_frame"/>
    <origin rpy="-1.57079632679 0 -1.57079632679" xyz="0 0 0"/>
  </joint>
  <!-- <link name="RFsrFToeFrontRight_frame">
    <collision>
      <geometry>
        <box size="0.01 0.01 0.005"/>
      </geometry>
      <origin rpy="0 0 0" xyz="0 0 0"/>
    </collision>
    <inertial>
      <mass value="2e-06"/>
      <inertia ixx="1.1e-09" ixy="0" ixz="0" iyy="1.1e-09" iyz="0" izz="1.1e-09"/>
    </inertial>
  </link>
  <joint name="RFoot/FSR/ToeFrontRight_sensor_fixedjoint" type="fixed">
    <parent link="r_ankle"/>
    <child link="RFsrFToeFrontRight_frame"/>
    <origin rpy="0 0 0" xyz="0.16098 -0.024 -0.06226"/>
    <axis xyz="0 0 0"/>
  </joint> -->
  <!-- <link name="RFsrHeelRight_frame">
    <collision>
      <geometry>
        <box size="0.01 0.01 0.005"/>
      </geometry>
      <origin rpy="0 0 0" xyz="0 0 0"/>
    </collision>
    <inertial>
      <mass value="2e-06"/>
      <inertia ixx="1.1e-09" ixy="0" ixz="0" iyy="1.1e-09" iyz="0" izz="1.1e-09"/>
    </inertial>
  </link>
  <joint name="RFoot/FSR/HeelRight_sensor_fixedjoint" type="fixed">
    <parent link="r_ankle"/>
    <child link="RFsrHeelRight_frame"/>
    <origin rpy="0 0 0" xyz="-0.04602 -0.017 -0.06226"/>
    <axis xyz="0 0 0"/>
  </joint> -->
  <!-- <link name="RFsrFToeRearLeft_frame">
    <collision>
      <geometry>
        <box size="0.01 0.01 0.005"/>
      </geometry>
      <origin rpy="0 0 0" xyz="0 0 0"/>
    </collision>
    <inertial>
      <mass value="2e-06"/>
      <inertia ixx="1.1e-09" ixy="0" ixz="0" iyy="1.1e-09" iyz="0" izz="1.1e-09"/>
    </inertial>
  </link>
  <joint name="RFoot/FSR/ToeRearLeft_sensor_fixedjoint" type="fixed">
    <parent link="r_ankle"/>
    <child link="RFsrFToeRearLeft_frame"/>
    <origin rpy="0 0 0" xyz="0.12698 0.0315 -0.06226"/>
    <axis xyz="0 0 0"/>
  </joint> -->
  <link name="ImuTorsoAccelerometer_frame"/>
  <joint name="AccelerometerDownTorso_sensor_fixedjoint" type="fixed">
    <parent link="body"/>
    <child link="ImuTorsoAccelerometer_frame"/>
    <origin rpy="0 0 0" xyz="0.06185 0.0087 -0.1582"/>
    <axis xyz="0 0 0"/>
  </joint>
  <!-- <link name="LFsrFToeRearRight_frame">
    <collision>
      <geometry>
        <box size="0.01 0.01 0.005"/>
      </geometry>
      <origin rpy="0 0 0" xyz="0 0 0"/>
    </collision>
    <inertial>
      <mass value="2e-06"/>
      <inertia ixx="1.1e-09" ixy="0" ixz="0" iyy="1.1e-09" iyz="0" izz="1.1e-09"/>
    </inertial>
  </link>
  <joint name="LFoot/FSR/ToeRearRight_sensor_fixedjoint" type="fixed">
    <parent link="l_ankle"/>
    <child link="LFsrFToeRearRight_frame"/>
    <origin rpy="0 0 0" xyz="0.12698 -0.0315 -0.06226"/>
    <axis xyz="0 0 0"/>
  </joint> -->
  <!-- <link name="LFsrHeelLeft_frame">
    <collision>
      <geometry>
        <box size="0.01 0.01 0.005"/>
      </geometry>
      <origin rpy="0 0 0" xyz="0 0 0"/>
    </collision>
    <inertial>
      <mass value="2e-06"/>
      <inertia ixx="1.1e-09" ixy="0" ixz="0" iyy="1.1e-09" iyz="0" izz="1.1e-09"/>
    </inertial>
  </link>
  <joint name="LFoot/FSR/HeelLeft_sensor_fixedjoint" type="fixed">
    <parent link="l_ankle"/>
    <child link="LFsrHeelLeft_frame"/>
    <origin rpy="0 0 0" xyz="-0.04602 0.017 -0.06226"/>
    <axis xyz="0 0 0"/>
  </joint> -->
  <link name="CameraRight_frame"/>
  <joint name="CameraRight_sensor_fixedjoint" type="fixed">
    <parent link="HeadRoll_link"/>
    <child link="CameraRight_frame"/>
    <origin rpy="0 0 0" xyz="0.11229 -0.04 0.09938"/>
    <axis xyz="0 0 0"/>
  </joint>
  <link name="ImuTorsoGyrometer_frame"/>
  <joint name="GyrometerDownTorso_sensor_fixedjoint" type="fixed">
    <parent link="body"/>
    <child link="ImuTorsoGyrometer_frame"/>
    <origin rpy="0 0 0" xyz="0.06185 0.0087 -0.1582"/>
    <axis xyz="0 0 0"/>
  </joint>
  <!-- <link name="LFsrFToeRearLeft_frame">
    <collision>
      <geometry>
        <box size="0.01 0.01 0.005"/>
      </geometry>
      <origin rpy="0 0 0" xyz="0 0 0"/>
    </collision>
    <inertial>
      <mass value="2e-06"/>
      <inertia ixx="1.1e-09" ixy="0" ixz="0" iyy="1.1e-09" iyz="0" izz="1.1e-09"/>
    </inertial>
  </link>
  <joint name="LFoot/FSR/ToeRearLeft_sensor_fixedjoint" type="fixed">
    <parent link="l_ankle"/>
    <child link="LFsrFToeRearLeft_frame"/>
    <origin rpy="0 0 0" xyz="0.11898 0.0335 -0.06226"/>
    <axis xyz="0 0 0"/>
  </joint> -->
  <!-- <link name="LFsrRearCenter_frame">
    <collision>
      <geometry>
        <box size="0.01 0.01 0.005"/>
      </geometry>
      <origin rpy="0 0 0" xyz="0 0 0"/>
    </collision>
    <inertial>
      <mass value="2e-06"/>
      <inertia ixx="1.1e-09" ixy="0" ixz="0" iyy="1.1e-09" iyz="0" izz="1.1e-09"/>
    </inertial>
  </link>
  <joint name="LFoot/FSR/CenterRear_sensor_fixedjoint" type="fixed">
    <parent link="l_ankle"/>
    <child link="LFsrRearCenter_frame"/>
    <origin rpy="0 0 0" xyz="0.01448 0.0145 -0.06226"/>
    <axis xyz="0 0 0"/>
  </joint> -->
  <link name="CameraLeft_frame"/>
  <joint name="CameraLeft_sensor_fixedjoint" type="fixed">
    <parent link="HeadRoll_link"/>
    <child link="CameraLeft_frame"/>
    <origin rpy="0 0 0" xyz="0.11229 0.04 0.09938"/>
    <axis xyz="0 0 0"/>
  </joint>
  <link name="CameraLeft_optical_frame"/>
  <joint name="CameraLeft_optical_frame_fixedjoint" type="fixed">
    <parent link="CameraLeft_frame"/>
    <child link="CameraLeft_optical_frame"/>
    <origin rpy="-1.57079632679 0 -1.57079632679" xyz="0 0 0"/>
  </joint>
  <!-- <link name="LFsrFToeFrontRight_frame">
    <collision>
      <geometry>
        <box size="0.01 0.01 0.005"/>
      </geometry>
      <origin rpy="0 0 0" xyz="0 0 0"/>
    </collision>
    <inertial>
      <mass value="2e-06"/>
      <inertia ixx="1.1e-09" ixy="0" ixz="0" iyy="1.1e-09" iyz="0" izz="1.1e-09"/>
    </inertial>
  </link>
  <joint name="LFoot/FSR/ToeFrontRight_sensor_fixedjoint" type="fixed">
    <parent link="l_ankle"/>
    <child link="LFsrFToeFrontRight_frame"/>
    <origin rpy="0 0 0" xyz="0.17298 -0.023 -0.06226"/>
    <axis xyz="0 0 0"/>
  </joint> -->
  <!-- <link name="RFsrHeelLeft_frame">
    <collision>
      <geometry>
        <box size="0.01 0.01 0.005"/>
      </geometry>
      <origin rpy="0 0 0" xyz="0 0 0"/>
    </collision>
    <inertial>
      <mass value="2e-06"/>
      <inertia ixx="1.1e-09" ixy="0" ixz="0" iyy="1.1e-09" iyz="0" izz="1.1e-09"/>
    </inertial>
  </link>
  <joint name="RFoot/FSR/HeelLeft_sensor_fixedjoint" type="fixed">
    <parent link="r_ankle"/>
    <child link="RFsrHeelLeft_frame"/>
    <origin rpy="0 0 0" xyz="-0.04602 0.017 -0.06226"/>
    <axis xyz="0 0 0"/>
  </joint> -->
  <link name="ImuHeadAccelerometer_frame"/>
  <joint name="AccelerometerHead_sensor_fixedjoint" type="fixed">
    <parent link="HeadRoll_link"/>
    <child link="ImuHeadAccelerometer_frame"/>
    <origin rpy="0 0 1.5708" xyz="-0.01135 -0.04225 0.16011"/>
    <axis xyz="0 0 0"/>
  </joint>
  <!-- <link name="LFsrFrontCenter_frame">
    <collision>
      <geometry>
        <box size="0.01 0.01 0.005"/>
      </geometry>
      <origin rpy="0 0 0" xyz="0 0 0"/>
    </collision>
    <inertial>
      <mass value="2e-06"/>
      <inertia ixx="1.1e-09" ixy="0" ixz="0" iyy="1.1e-09" iyz="0" izz="1.1e-09"/>
    </inertial>
  </link>
  <joint name="LFoot/FSR/CenterFront_sensor_fixedjoint" type="fixed">
    <parent link="l_ankle"/>
    <child link="LFsrFrontCenter_frame"/>
    <origin rpy="0 0 0" xyz="0.07498 0.01275 -0.06226"/>
    <axis xyz="0 0 0"/>
  </joint> -->
  <!-- <link name="RFsrFToeFrontLeft_frame">
    <collision>
      <geometry>
        <box size="0.01 0.01 0.005"/>
      </geometry>
      <origin rpy="0 0 0" xyz="0 0 0"/>
    </collision>
    <inertial>
      <mass value="2e-06"/>
      <inertia ixx="1.1e-09" ixy="0" ixz="0" iyy="1.1e-09" iyz="0" izz="1.1e-09"/>
    </inertial>
  </link>
  <joint name="RFoot/FSR/ToeFrontLeft_sensor_fixedjoint" type="fixed">
    <parent link="r_ankle"/>
    <child link="RFsrFToeFrontLeft_frame"/>
    <origin rpy="0 0 0" xyz="0.17298 0.023 -0.06226"/>
    <axis xyz="0 0 0"/>
  </joint> -->
  <!-- <link name="LFsrFToeFrontLeft_frame">
    <collision>
      <geometry>
        <box size="0.01 0.01 0.005"/>
      </geometry>
      <origin rpy="0 0 0" xyz="0 0 0"/>
    </collision>
    <inertial>
      <mass value="2e-06"/>
      <inertia ixx="1.1e-09" ixy="0" ixz="0" iyy="1.1e-09" iyz="0" izz="1.1e-09"/>
    </inertial>
  </link>
  <joint name="LFoot/FSR/ToeFrontLeft_sensor_fixedjoint" type="fixed">
    <parent link="l_ankle"/>
    <child link="LFsrFToeFrontLeft_frame"/>
    <origin rpy="0 0 0" xyz="0.16098 0.024 -0.06226"/>
    <axis xyz="0 0 0"/>
  </joint> -->
  <link name="RFinger13_link">
    <inertial>
      <mass value="2e-06"/>
      <inertia ixx="1.1e-09" ixy="0" ixz="0" iyy="1.1e-09" iyz="0" izz="1.1e-09"/>
    </inertial>
    <visual>
      <geometry>
        <mesh filename="meshes/RFinger13.dae" scale="1 1 1"/>
      </geometry>
      <origin rpy="0 0 0" xyz="0 0 0"/>
    </visual>
    <collision>
      <geometry>
        <mesh filename="meshes/RFinger13_0.10.stl" scale="1 1 1"/>
      </geometry>
      <origin rpy="0 0 0" xyz="0 0 0"/>
    </collision>
  </link>
  <joint name="RFinger13" type="revolute">
    <parent link="RFinger12_link"/>
    <child link="RFinger13_link"/>
    <origin rpy="0 0 0" xyz="0 0.0230916 -5.90086e-06"/>
    <axis xyz="0 0 1.0"/>
    <mimic joint="RHand" multiplier="0.988205" offset="0"/>
    <limit effort="0.91" lower="0.0" upper="0.988205" velocity="59.8925"/>
  </joint>
  <link name="RFinger12_link">
    <inertial>
      <mass value="2e-06"/>
      <inertia ixx="1.1e-09" ixy="0" ixz="0" iyy="1.1e-09" iyz="0" izz="1.1e-09"/>
    </inertial>
    <visual>
      <geometry>
        <mesh filename="meshes/RFinger12.dae" scale="1 1 1"/>
      </geometry>
      <origin rpy="0 0 0" xyz="0 0 0"/>
    </visual>
    <collision>
      <geometry>
        <mesh filename="meshes/RFinger12_0.10.stl" scale="1 1 1"/>
      </geometry>
      <origin rpy="0 0 0" xyz="0 0 0"/>
    </collision>
  </link>
  <joint name="RFinger12" type="revolute">
    <parent link="RFinger11_link"/>
    <child link="RFinger12_link"/>
    <origin rpy="0 0 0" xyz="0 0.0230929 4.02331e-06"/>
    <axis xyz="0 0 1.0"/>
    <mimic joint="RHand" multiplier="0.988205" offset="0"/>
    <limit effort="0.91" lower="0.0" upper="0.988205" velocity="59.8925"/>
  </joint>
  <link name="LFinger33_link">
    <inertial>
      <mass value="2e-06"/>
      <inertia ixx="1.1e-09" ixy="0" ixz="0" iyy="1.1e-09" iyz="0" izz="1.1e-09"/>
    </inertial>
    <visual>
      <geometry>
        <mesh filename="meshes/LFinger33.obj" scale="1 1 1"/>
      </geometry>
      <origin rpy="0 0 0" xyz="0 0 0"/>
    </visual>
    <collision>
      <geometry>
        <mesh filename="meshes/LFinger33_0.10.stl" scale="1 1 1"/>
      </geometry>
      <origin rpy="0 0 0" xyz="0 0 0"/>
    </collision>
  </link>
  <joint name="LFinger33" type="revolute">
    <parent link="LFinger32_link"/>
    <child link="LFinger33_link"/>
    <origin rpy="0 0 0" xyz="0 0.0230916 -5.91576e-06"/>
    <axis xyz="0 0 1.0"/>
    <mimic joint="LHand" multiplier="0.988205" offset="0"/>
    <limit effort="0.91" lower="0.0" upper="0.988205" velocity="59.8925"/>
  </joint>
  <link name="RFinger31_link">
    <inertial>
      <mass value="2e-06"/>
      <inertia ixx="1.1e-09" ixy="0" ixz="0" iyy="1.1e-09" iyz="0" izz="1.1e-09"/>
    </inertial>
    <visual>
      <geometry>
        <mesh filename="meshes/RFinger31.dae" scale="1 1 1"/>
      </geometry>
      <origin rpy="0 0 0" xyz="0 0 0"/>
    </visual>
    <collision>
      <geometry>
        <mesh filename="meshes/RFinger31_0.10.stl" scale="1 1 1"/>
      </geometry>
      <origin rpy="0 0 0" xyz="0 0 0"/>
    </collision>
  </link>
  <joint name="RFinger31" type="revolute">
    <parent link="r_wrist"/>
    <child link="RFinger31_link"/>
    <origin rpy="1.69304 1.5708 3.14159" xyz="0.11215 -0.03024 0.00999"/>
    <axis xyz="0 0 1.0"/>
    <mimic joint="RHand" multiplier="0.988205" offset="0"/>
    <limit effort="0.91" lower="0.0" upper="0.988205" velocity="59.8925"/>
  </joint>
  <link name="RFinger32_link">
    <inertial>
      <mass value="2e-06"/>
      <inertia ixx="1.1e-09" ixy="0" ixz="0" iyy="1.1e-09" iyz="0" izz="1.1e-09"/>
    </inertial>
    <visual>
      <geometry>
        <mesh filename="meshes/RFinger32.dae" scale="1 1 1"/>
      </geometry>
      <origin rpy="0 0 0" xyz="0 0 0"/>
    </visual>
    <collision>
      <geometry>
        <mesh filename="meshes/RFinger32_0.10.stl" scale="1 1 1"/>
      </geometry>
      <origin rpy="0 0 0" xyz="0 0 0"/>
    </collision>
  </link>
  <joint name="RFinger32" type="revolute">
    <parent link="RFinger31_link"/>
    <child link="RFinger32_link"/>
    <origin rpy="0 0 0" xyz="0 -0.0230929 -4.02331e-06"/>
    <axis xyz="0 0 1.0"/>
    <mimic joint="RHand" multiplier="0.988205" offset="0"/>
    <limit effort="0.91" lower="0.0" upper="0.988205" velocity="59.8925"/>
  </joint>
  <link name="LFinger21_link">
    <inertial>
      <mass value="2e-06"/>
      <inertia ixx="1.1e-09" ixy="0" ixz="0" iyy="1.1e-09" iyz="0" izz="1.1e-09"/>
    </inertial>
    <visual>
      <geometry>
        <mesh filename="meshes/LFinger21.obj" scale="1 1 1"/>
      </geometry>
      <origin rpy="0 0 0" xyz="0 0 0"/>
    </visual>
    <collision>
      <geometry>
        <mesh filename="meshes/LFinger21_0.10.stl" scale="1 1 1"/>
      </geometry>
      <origin rpy="0 0 0" xyz="0 0 0"/>
    </collision>
  </link>
  <joint name="LFinger21" type="revolute">
    <parent link="l_wrist"/>
    <child link="LFinger21_link"/>
    <origin rpy="1.5708 1.5708 3.14159" xyz="0.12934 0 0.01499"/>
    <axis xyz="0 0 1.0"/>
    <mimic joint="LHand" multiplier="0.988205" offset="0"/>
    <limit effort="0.91" lower="0.0" upper="0.988205" velocity="59.8925"/>
  </joint>
  <link name="LFinger13_link">
    <inertial>
      <mass value="2e-06"/>
      <inertia ixx="1.1e-09" ixy="0" ixz="0" iyy="1.1e-09" iyz="0" izz="1.1e-09"/>
    </inertial>
    <visual>
      <geometry>
        <mesh filename="meshes/LFinger13.obj" scale="1 1 1"/>
      </geometry>
      <origin rpy="0 0 0" xyz="0 0 0"/>
    </visual>
    <collision>
      <geometry>
        <mesh filename="meshes/LFinger13_0.10.stl" scale="1 1 1"/>
      </geometry>
      <origin rpy="0 0 0" xyz="0 0 0"/>
    </collision>
  </link>
  <joint name="LFinger13" type="revolute">
    <parent link="LFinger12_link"/>
    <child link="LFinger13_link"/>
    <origin rpy="0 0 0" xyz="0 -0.0230916 5.90086e-06"/>
    <axis xyz="0 0 1.0"/>
    <mimic joint="LHand" multiplier="0.988205" offset="0"/>
    <limit effort="0.91" lower="0.0" upper="0.988205" velocity="59.8925"/>
  </joint>
  <link name="LFinger32_link">
    <inertial>
      <mass value="2e-06"/>
      <inertia ixx="1.1e-09" ixy="0" ixz="0" iyy="1.1e-09" iyz="0" izz="1.1e-09"/>
    </inertial>
    <visual>
      <geometry>
        <mesh filename="meshes/LFinger32.obj" scale="1 1 1"/>
      </geometry>
      <origin rpy="0 0 0" xyz="0 0 0"/>
    </visual>
    <collision>
      <geometry>
        <mesh filename="meshes/LFinger32_0.10.stl" scale="1 1 1"/>
      </geometry>
      <origin rpy="0 0 0" xyz="0 0 0"/>
    </collision>
  </link>
  <joint name="LFinger32" type="revolute">
    <parent link="LFinger31_link"/>
    <child link="LFinger32_link"/>
    <origin rpy="0 0 0" xyz="0 0.0230928 4.02331e-06"/>
    <axis xyz="0 0 1.0"/>
    <mimic joint="LHand" multiplier="0.988205" offset="0"/>
    <limit effort="0.91" lower="0.0" upper="0.988205" velocity="59.8925"/>
  </joint>
  <link name="LFinger11_link">
    <inertial>
      <mass value="2e-06"/>
      <inertia ixx="1.1e-09" ixy="0" ixz="0" iyy="1.1e-09" iyz="0" izz="1.1e-09"/>
    </inertial>
    <visual>
      <geometry>
        <mesh filename="meshes/LFinger11.obj" scale="1 1 1"/>
      </geometry>
      <origin rpy="0 0 0" xyz="0 0 0"/>
    </visual>
    <collision>
      <geometry>
        <mesh filename="meshes/LFinger11_0.10.stl" scale="1 1 1"/>
      </geometry>
      <origin rpy="0 0 0" xyz="0 0 0"/>
    </collision>
  </link>
  <joint name="LFinger11" type="revolute">
    <parent link="l_wrist"/>
    <child link="LFinger11_link"/>
    <origin rpy="1.69304 1.5708 3.14159" xyz="0.12385 -0.03024 0.00999"/>
    <axis xyz="0 0 1.0"/>
    <mimic joint="LHand" multiplier="0.988205" offset="0"/>
    <limit effort="0.91" lower="0.0" upper="0.988205" velocity="59.8925"/>
  </joint>
  <link name="RFinger22_link">
    <inertial>
      <mass value="2e-06"/>
      <inertia ixx="1.1e-09" ixy="0" ixz="0" iyy="1.1e-09" iyz="0" izz="1.1e-09"/>
    </inertial>
    <visual>
      <geometry>
        <mesh filename="meshes/RFinger22.dae" scale="1 1 1"/>
      </geometry>
      <origin rpy="0 0 0" xyz="0 0 0"/>
    </visual>
    <collision>
      <geometry>
        <mesh filename="meshes/RFinger22_0.10.stl" scale="1 1 1"/>
      </geometry>
      <origin rpy="0 0 0" xyz="0 0 0"/>
    </collision>
  </link>
  <joint name="RFinger22" type="revolute">
    <parent link="RFinger21_link"/>
    <child link="RFinger22_link"/>
    <origin rpy="0 0 0" xyz="0 0.02309 0"/>
    <axis xyz="0 0 1.0"/>
    <mimic joint="RHand" multiplier="0.988205" offset="0"/>
    <limit effort="0.91" lower="0.0" upper="0.988205" velocity="59.8925"/>
  </joint>
  <link name="LFinger22_link">
    <inertial>
      <mass value="2e-06"/>
      <inertia ixx="1.1e-09" ixy="0" ixz="0" iyy="1.1e-09" iyz="0" izz="1.1e-09"/>
    </inertial>
    <visual>
      <geometry>
        <mesh filename="meshes/LFinger22.obj" scale="1 1 1"/>
      </geometry>
      <origin rpy="0 0 0" xyz="0 0 0"/>
    </visual>
    <collision>
      <geometry>
        <mesh filename="meshes/LFinger22_0.10.stl" scale="1 1 1"/>
      </geometry>
      <origin rpy="0 0 0" xyz="0 0 0"/>
    </collision>
  </link>
  <joint name="LFinger22" type="revolute">
    <parent link="LFinger21_link"/>
    <child link="LFinger22_link"/>
    <origin rpy="0 0 0" xyz="0 -0.02309 0"/>
    <axis xyz="0 0 1.0"/>
    <mimic joint="LHand" multiplier="0.988205" offset="0"/>
    <limit effort="0.91" lower="0.0" upper="0.988205" velocity="59.8925"/>
  </joint>
  <link name="RFinger21_link">
    <inertial>
      <mass value="2e-06"/>
      <inertia ixx="1.1e-09" ixy="0" ixz="0" iyy="1.1e-09" iyz="0" izz="1.1e-09"/>
    </inertial>
    <visual>
      <geometry>
        <mesh filename="meshes/RFinger21.dae" scale="1 1 1"/>
      </geometry>
      <origin rpy="0 0 0" xyz="0 0 0"/>
    </visual>
    <collision>
      <geometry>
        <mesh filename="meshes/RFinger21_0.10.stl" scale="1 1 1"/>
      </geometry>
      <origin rpy="0 0 0" xyz="0 0 0"/>
    </collision>
  </link>
  <joint name="RFinger21" type="revolute">
    <parent link="r_wrist"/>
    <child link="RFinger21_link"/>
    <origin rpy="1.5708 -1.5708 -3.14159" xyz="0.12934 0 0.01499"/>
    <axis xyz="0 0 1.0"/>
    <mimic joint="RHand" multiplier="0.988205" offset="0"/>
    <limit effort="0.91" lower="0.0" upper="0.988205" velocity="59.8925"/>
  </joint>
  <link name="LFinger12_link">
    <inertial>
      <mass value="2e-06"/>
      <inertia ixx="1.1e-09" ixy="0" ixz="0" iyy="1.1e-09" iyz="0" izz="1.1e-09"/>
    </inertial>
    <visual>
      <geometry>
        <mesh filename="meshes/LFinger12.obj" scale="1 1 1"/>
      </geometry>
      <origin rpy="0 0 0" xyz="0 0 0"/>
    </visual>
    <collision>
      <geometry>
        <mesh filename="meshes/LFinger12_0.10.stl" scale="1 1 1"/>
      </geometry>
      <origin rpy="0 0 0" xyz="0 0 0"/>
    </collision>
  </link>
  <joint name="LFinger12" type="revolute">
    <parent link="LFinger11_link"/>
    <child link="LFinger12_link"/>
    <origin rpy="0 0 0" xyz="0 -0.0230929 -4.02331e-06"/>
    <axis xyz="0 0 1.0"/>
    <mimic joint="LHand" multiplier="0.988205" offset="0"/>
    <limit effort="0.91" lower="0.0" upper="0.988205" velocity="59.8925"/>
  </joint>
  <link name="RFinger23_link">
    <inertial>
      <mass value="2e-06"/>
      <inertia ixx="1.1e-09" ixy="0" ixz="0" iyy="1.1e-09" iyz="0" izz="1.1e-09"/>
    </inertial>
    <visual>
      <geometry>
        <mesh filename="meshes/RFinger23.dae" scale="1 1 1"/>
      </geometry>
      <origin rpy="0 0 0" xyz="0 0 0"/>
    </visual>
    <collision>
      <geometry>
        <mesh filename="meshes/RFinger23_0.10.stl" scale="1 1 1"/>
      </geometry>
      <origin rpy="0 0 0" xyz="0 0 0"/>
    </collision>
  </link>
  <joint name="RFinger23" type="revolute">
    <parent link="RFinger22_link"/>
    <child link="RFinger23_link"/>
    <origin rpy="0 0 0" xyz="0 0.02309 0"/>
    <axis xyz="0 0 1.0"/>
    <mimic joint="RHand" multiplier="0.988205" offset="0"/>
    <limit effort="0.91" lower="0.0" upper="0.988205" velocity="59.8925"/>
  </joint>
  <link name="RFinger11_link">
    <inertial>
      <mass value="2e-06"/>
      <inertia ixx="1.1e-09" ixy="0" ixz="0" iyy="1.1e-09" iyz="0" izz="1.1e-09"/>
    </inertial>
    <visual>
      <geometry>
        <mesh filename="meshes/RFinger11.dae" scale="1 1 1"/>
      </geometry>
      <origin rpy="0 0 0" xyz="0 0 0"/>
    </visual>
    <collision>
      <geometry>
        <mesh filename="meshes/RFinger11_0.10.stl" scale="1 1 1"/>
      </geometry>
      <origin rpy="0 0 0" xyz="0 0 0"/>
    </collision>
  </link>
  <joint name="RFinger11" type="revolute">
    <parent link="r_wrist"/>
    <child link="RFinger11_link"/>
    <origin rpy="1.69304 -1.5708 3.14159" xyz="0.12385 0.03024 0.00999"/>
    <axis xyz="0 0 1.0"/>
    <mimic joint="RHand" multiplier="0.988205" offset="0"/>
    <limit effort="0.91" lower="0.0" upper="0.988205" velocity="59.8925"/>
  </joint>
  <link name="LFinger23_link">
    <inertial>
      <mass value="2e-06"/>
      <inertia ixx="1.1e-09" ixy="0" ixz="0" iyy="1.1e-09" iyz="0" izz="1.1e-09"/>
    </inertial>
    <visual>
      <geometry>
        <mesh filename="meshes/LFinger23.obj" scale="1 1 1"/>
      </geometry>
      <origin rpy="0 0 0" xyz="0 0 0"/>
    </visual>
    <collision>
      <geometry>
        <mesh filename="meshes/LFinger23_0.10.stl" scale="1 1 1"/>
      </geometry>
      <origin rpy="0 0 0" xyz="0 0 0"/>
    </collision>
  </link>
  <joint name="LFinger23" type="revolute">
    <parent link="LFinger22_link"/>
    <child link="LFinger23_link"/>
    <origin rpy="0 0 0" xyz="0 -0.02309 0"/>
    <axis xyz="0 0 1.0"/>
    <mimic joint="LHand" multiplier="0.988205" offset="0"/>
    <limit effort="0.91" lower="0.0" upper="0.988205" velocity="59.8925"/>
  </joint>
  <link name="LFinger31_link">
    <inertial>
      <mass value="2e-06"/>
      <inertia ixx="1.1e-09" ixy="0" ixz="0" iyy="1.1e-09" iyz="0" izz="1.1e-09"/>
    </inertial>
    <visual>
      <geometry>
        <mesh filename="meshes/LFinger31.obj" scale="1 1 1"/>
      </geometry>
      <origin rpy="0 0 0" xyz="0 0 0"/>
    </visual>
    <collision>
      <geometry>
        <mesh filename="meshes/LFinger31_0.10.stl" scale="1 1 1"/>
      </geometry>
      <origin rpy="0 0 0" xyz="0 0 0"/>
    </collision>
  </link>
  <joint name="LFinger31" type="revolute">
    <parent link="l_wrist"/>
    <child link="LFinger31_link"/>
    <origin rpy="1.69304 -1.5708 3.14159" xyz="0.11215 0.03024 0.00999"/>
    <axis xyz="0 0 1.0"/>
    <mimic joint="LHand" multiplier="0.988205" offset="0"/>
    <limit effort="0.91" lower="0.0" upper="0.988205" velocity="59.8925"/>
  </joint>
  <link name="RFinger33_link">
    <inertial>
      <mass value="2e-06"/>
      <inertia ixx="1.1e-09" ixy="0" ixz="0" iyy="1.1e-09" iyz="0" izz="1.1e-09"/>
    </inertial>
    <visual>
      <geometry>
        <mesh filename="meshes/RFinger33.dae" scale="1 1 1"/>
      </geometry>
      <origin rpy="0 0 0" xyz="0 0 0"/>
    </visual>
    <collision>
      <geometry>
        <mesh filename="meshes/RFinger33_0.10.stl" scale="1 1 1"/>
      </geometry>
      <origin rpy="0 0 0" xyz="0 0 0"/>
    </collision>
  </link>
  <joint name="RFinger33" type="revolute">
    <parent link="RFinger32_link"/>
    <child link="RFinger33_link"/>
    <origin rpy="0 0 0" xyz="0 -0.0230916 5.90086e-06"/>
    <axis xyz="0 0 1.0"/>
    <mimic joint="RHand" multiplier="0.988205" offset="0"/>
    <limit effort="0.91" lower="0.0" upper="0.988205" velocity="59.8925"/>
  </joint>
  <link name="LThumb3_link">
    <inertial>
      <mass value="2e-06"/>
      <inertia ixx="1.1e-09" ixy="0" ixz="0" iyy="1.1e-09" iyz="0" izz="1.1e-09"/>
    </inertial>
    <visual>
      <geometry>
        <mesh filename="meshes/LThumb3.obj" scale="1 1 1"/>
      </geometry>
      <origin rpy="0 0 0" xyz="0 0 0"/>
    </visual>
    <collision>
      <geometry>
        <mesh filename="meshes/LThumb3_0.10.stl" scale="1 1 1"/>
      </geometry>
      <origin rpy="0 0 0" xyz="0 0 0"/>
    </collision>
  </link>
  <joint name="LThumb3" type="revolute">
    <parent link="LThumb2_link"/>
    <child link="LThumb3_link"/>
    <origin rpy="-5.96047e-08 0 1.49012e-08" xyz="0.0187362 0.0135152 5.21541e-06"/>
    <axis xyz="0 0 1.0"/>
    <mimic joint="LHand" multiplier="0.988205" offset="0"/>
    <limit effort="0.91" lower="0.0" upper="0.988205" velocity="59.8925"/>
  </joint>
  <link name="LThumb1_link">
    <inertial>
      <mass value="2e-06"/>
      <inertia ixx="1.1e-09" ixy="0" ixz="0" iyy="1.1e-09" iyz="0" izz="1.1e-09"/>
    </inertial>
    <visual>
      <geometry>
        <mesh filename="meshes/LThumb1.obj" scale="1 1 1"/>
      </geometry>
      <origin rpy="0 0 0" xyz="0 0 0"/>
    </visual>
    <collision>
      <geometry>
        <mesh filename="meshes/LThumb1_0.10.stl" scale="1 1 1"/>
      </geometry>
      <origin rpy="0 0 0" xyz="0 0 0"/>
    </collision>
  </link>
  <joint name="LThumb1" type="revolute">
    <parent link="l_wrist"/>
    <child link="LThumb1_link"/>
    <origin rpy="-2.97779 1.21665 -3.14159" xyz="0.0624 -0.03131 -0.00574"/>
    <axis xyz="0 0 1.0"/>
    <mimic joint="LHand" multiplier="1.74533" offset="0"/>
    <limit effort="0.91" lower="0.0" upper="1.74533" velocity="59.8925"/>
  </joint>
  <link name="RThumb1_link">
    <inertial>
      <mass value="2e-06"/>
      <inertia ixx="1.1e-09" ixy="0" ixz="0" iyy="1.1e-09" iyz="0" izz="1.1e-09"/>
    </inertial>
    <visual>
      <geometry>
        <mesh filename="meshes/RThumb1.dae" scale="1 1 1"/>
      </geometry>
      <origin rpy="0 0 0" xyz="0 0 0"/>
    </visual>
    <collision>
      <geometry>
        <mesh filename="meshes/RThumb1_0.10.stl" scale="1 1 1"/>
      </geometry>
      <origin rpy="0 0 0" xyz="0 0 0"/>
    </collision>
  </link>
  <joint name="RThumb1" type="revolute">
    <parent link="r_wrist"/>
    <child link="RThumb1_link"/>
    <origin rpy="0.1638 -1.21665 0" xyz="0.0624 0.03131 -0.00574"/>
    <axis xyz="0 0 1.0"/>
    <mimic joint="RHand" multiplier="1.74533" offset="0"/>
    <limit effort="0.91" lower="0.0" upper="1.74533" velocity="59.8925"/>
  </joint>
  <link name="RThumb2_link">
    <inertial>
      <mass value="2e-06"/>
      <inertia ixx="1.1e-09" ixy="0" ixz="0" iyy="1.1e-09" iyz="0" izz="1.1e-09"/>
    </inertial>
    <visual>
      <geometry>
        <mesh filename="meshes/RThumb2.dae" scale="1 1 1"/>
      </geometry>
      <origin rpy="0 0 0" xyz="0 0 0"/>
    </visual>
    <collision>
      <geometry>
        <mesh filename="meshes/RThumb2_0.10.stl" scale="1 1 1"/>
      </geometry>
      <origin rpy="0 0 0" xyz="0 0 0"/>
    </collision>
  </link>
  <joint name="RThumb2" type="revolute">
    <parent link="RThumb1_link"/>
    <child link="RThumb2_link"/>
    <origin rpy="1.13316 0 -1.80698" xyz="-0.000329241 0.0388865 -0.017011"/>
    <axis xyz="0 0 1.0"/>
    <mimic joint="RHand" multiplier="0.988205" offset="0"/>
    <limit effort="0.91" lower="0.0" upper="0.988205" velocity="59.8925"/>
  </joint>
  <link name="LThumb2_link">
    <inertial>
      <mass value="2e-06"/>
      <inertia ixx="1.1e-09" ixy="0" ixz="0" iyy="1.1e-09" iyz="0" izz="1.1e-09"/>
    </inertial>
    <visual>
      <geometry>
        <mesh filename="meshes/LThumb2.obj" scale="1 1 1"/>
      </geometry>
      <origin rpy="0 0 0" xyz="0 0 0"/>
    </visual>
    <collision>
      <geometry>
        <mesh filename="meshes/LThumb2_0.10.stl" scale="1 1 1"/>
      </geometry>
      <origin rpy="0 0 0" xyz="0 0 0"/>
    </collision>
  </link>
  <joint name="LThumb2" type="revolute">
    <parent link="LThumb1_link"/>
    <child link="LThumb2_link"/>
    <origin rpy="1.13316 7.45058e-09 -1.80698" xyz="0.000329241 -0.0388865 0.017011"/>
    <axis xyz="0 0 1.0"/>
    <mimic joint="LHand" multiplier="0.988205" offset="0"/>
    <limit effort="0.91" lower="0.0" upper="0.988205" velocity="59.8925"/>
  </joint>
  <link name="RThumb3_link">
    <inertial>
      <mass value="2e-06"/>
      <inertia ixx="1.1e-09" ixy="0" ixz="0" iyy="1.1e-09" iyz="0" izz="1.1e-09"/>
    </inertial>
    <visual>
      <geometry>
        <mesh filename="meshes/RThumb3.dae" scale="1 1 1"/>
      </geometry>
      <origin rpy="0 0 0" xyz="0 0 0"/>
    </visual>
    <collision>
      <geometry>
        <mesh filename="meshes/RThumb3_0.10.stl" scale="1 1 1"/>
      </geometry>
      <origin rpy="0 0 0" xyz="0 0 0"/>
    </collision>
  </link>
  <joint name="RThumb3" type="revolute">
    <parent link="RThumb2_link"/>
    <child link="RThumb3_link"/>
    <origin rpy="-5.96047e-08 -1.49012e-08 1.49012e-08" xyz="-0.0187362 -0.0135152 -5.21541e-06"/>
    <axis xyz="0 0 1.0"/>
    <mimic joint="RHand" multiplier="0.988205" offset="0"/>
    <limit effort="0.91" lower="0.0" upper="0.988205" velocity="59.8925"/>
  </joint>
  <link name="CameraDepth_frame"/>
  <joint name="CameraDepth_joint" type="fixed">
    <parent link="HeadRoll_link"/>
    <child link="CameraDepth_frame"/>
    <origin rpy="0 0 0" xyz="0.1403 -0.04708 0.14655"/>
  </joint>
  <link name="CameraDepth_optical_frame"/>
  <joint name="CameraDepth_optical_frame_fixedjoint" type="fixed">
    <parent link="CameraDepth_frame"/>
    <child link="CameraDepth_optical_frame"/>
    <origin rpy="2.0043951 0 1.57079632679" xyz="0 0 0"/>
  </joint>
  <!-- <link name="Cap">
    <inertial>
      <mass value="0.29923"/>
      <inertia ixx="0.000412832" ixy="-1.67846e-06" ixz="0.000111721" iyy="0.000383921" iyz="5.04259e-05" izz="0.000264006"/>
      <origin rpy="0 0 0" xyz="0 0 0"/>
    </inertial>
    <visual>
      <geometry>
        <mesh filename="meshes/Cap.dae" scale="1 1 1"/>
      </geometry>
      <origin rpy="0 0 0" xyz="0 0 0"/>
    </visual>
  </link>
  <joint name="Cap_joint" type="fixed">
    <parent link="HeadRoll_link"/>
    <child link="Cap"/>
    <origin rpy="0 0 0" xyz="0 0 0"/>
  </joint> -->
  <!-- MACROS FOR DISABLE LINKS -->
  <!-- MACROS FOR MIMIC JOINTS -->
  <!-- Fingers -->
  <!-- Thumbs -->
  <!-- GAZEBO ROS CONTROL AND IMU PLUGIN -->
  <gazebo>
    <plugin filename="libgazebo_ros_control.so" name="gazebo_ros_control">
      <robotNamespace/>
      <robotSimType>gazebo_ros_control/DefaultRobotHWSim</robotSimType>
    </plugin>
    <plugin filename="libroboticsgroup_gazebo_mimic_joint_plugin.so" name="mimic_LFinger11">
      <joint>LHand</joint>
      <mimicJoint>LFinger11</mimicJoint>
      <multiplier>-0.785398163398</multiplier>
      <offset>0.785398163398</offset>
    </plugin>
    <plugin filename="libroboticsgroup_gazebo_mimic_joint_plugin.so" name="mimic_LFinger12">
      <joint>LHand</joint>
      <mimicJoint>LFinger12</mimicJoint>
      <multiplier>-0.785398163398</multiplier>
      <offset>0.785398163398</offset>
    </plugin>
    <plugin filename="libroboticsgroup_gazebo_mimic_joint_plugin.so" name="mimic_LFinger13">
      <joint>LHand</joint>
      <mimicJoint>LFinger13</mimicJoint>
      <multiplier>-0.785398163398</multiplier>
      <offset>0.785398163398</offset>
    </plugin>
    <plugin filename="libroboticsgroup_gazebo_mimic_joint_plugin.so" name="mimic_LFinger21">
      <joint>LHand</joint>
      <mimicJoint>LFinger21</mimicJoint>
      <multiplier>-0.785398163398</multiplier>
      <offset>0.785398163398</offset>
    </plugin>
    <plugin filename="libroboticsgroup_gazebo_mimic_joint_plugin.so" name="mimic_LFinger22">
      <joint>LHand</joint>
      <mimicJoint>LFinger22</mimicJoint>
      <multiplier>-0.785398163398</multiplier>
      <offset>0.785398163398</offset>
    </plugin>
    <plugin filename="libroboticsgroup_gazebo_mimic_joint_plugin.so" name="mimic_LFinger23">
      <joint>LHand</joint>
      <mimicJoint>LFinger23</mimicJoint>
      <multiplier>-0.785398163398</multiplier>
      <offset>0.785398163398</offset>
    </plugin>
    <plugin filename="libroboticsgroup_gazebo_mimic_joint_plugin.so" name="mimic_LFinger31">
      <joint>LHand</joint>
      <mimicJoint>LFinger31</mimicJoint>
      <multiplier>-0.785398163398</multiplier>
      <offset>0.785398163398</offset>
    </plugin>
    <plugin filename="libroboticsgroup_gazebo_mimic_joint_plugin.so" name="mimic_LFinger32">
      <joint>LHand</joint>
      <mimicJoint>LFinger32</mimicJoint>
      <multiplier>-0.785398163398</multiplier>
      <offset>0.785398163398</offset>
    </plugin>
    <plugin filename="libroboticsgroup_gazebo_mimic_joint_plugin.so" name="mimic_LFinger33">
      <joint>LHand</joint>
      <mimicJoint>LFinger33</mimicJoint>
      <multiplier>-0.785398163398</multiplier>
      <offset>0.785398163398</offset>
    </plugin>
    <plugin filename="libroboticsgroup_gazebo_mimic_joint_plugin.so" name="mimic_RFinger11">
      <joint>RHand</joint>
      <mimicJoint>RFinger11</mimicJoint>
      <multiplier>-0.785398163398</multiplier>
      <offset>0.785398163398</offset>
    </plugin>
    <plugin filename="libroboticsgroup_gazebo_mimic_joint_plugin.so" name="mimic_RFinger12">
      <joint>RHand</joint>
      <mimicJoint>RFinger12</mimicJoint>
      <multiplier>-0.785398163398</multiplier>
      <offset>0.785398163398</offset>
    </plugin>
    <plugin filename="libroboticsgroup_gazebo_mimic_joint_plugin.so" name="mimic_RFinger13">
      <joint>RHand</joint>
      <mimicJoint>RFinger13</mimicJoint>
      <multiplier>-0.785398163398</multiplier>
      <offset>0.785398163398</offset>
    </plugin>
    <plugin filename="libroboticsgroup_gazebo_mimic_joint_plugin.so" name="mimic_RFinger21">
      <joint>RHand</joint>
      <mimicJoint>RFinger21</mimicJoint>
      <multiplier>-0.785398163398</multiplier>
      <offset>0.785398163398</offset>
    </plugin>
    <plugin filename="libroboticsgroup_gazebo_mimic_joint_plugin.so" name="mimic_RFinger22">
      <joint>RHand</joint>
      <mimicJoint>RFinger22</mimicJoint>
      <multiplier>-0.785398163398</multiplier>
      <offset>0.785398163398</offset>
    </plugin>
    <plugin filename="libroboticsgroup_gazebo_mimic_joint_plugin.so" name="mimic_RFinger23">
      <joint>RHand</joint>
      <mimicJoint>RFinger23</mimicJoint>
      <multiplier>-0.785398163398</multiplier>
      <offset>0.785398163398</offset>
    </plugin>
    <plugin filename="libroboticsgroup_gazebo_mimic_joint_plugin.so" name="mimic_RFinger31">
      <joint>RHand</joint>
      <mimicJoint>RFinger31</mimicJoint>
      <multiplier>-0.785398163398</multiplier>
      <offset>0.785398163398</offset>
    </plugin>
    <plugin filename="libroboticsgroup_gazebo_mimic_joint_plugin.so" name="mimic_RFinger32">
      <joint>RHand</joint>
      <mimicJoint>RFinger32</mimicJoint>
      <multiplier>-0.785398163398</multiplier>
      <offset>0.785398163398</offset>
    </plugin>
    <plugin filename="libroboticsgroup_gazebo_mimic_joint_plugin.so" name="mimic_RFinger33">
      <joint>RHand</joint>
      <mimicJoint>RFinger33</mimicJoint>
      <multiplier>-0.785398163398</multiplier>
      <offset>0.785398163398</offset>
    </plugin>
    <plugin filename="libroboticsgroup_gazebo_mimic_joint_plugin.so" name="LThumb1">
      <joint>LHand</joint>
      <mimicJoint>LThumb1</mimicJoint>
      <multiplier>-0.785398163398</multiplier>
      <offset>0.785398163398</offset>
    </plugin>
    <plugin filename="libroboticsgroup_gazebo_mimic_joint_plugin.so" name="LThumb2">
      <joint>LHand</joint>
      <mimicJoint>LThumb2</mimicJoint>
      <multiplier>-0.785398163398</multiplier>
      <offset>0.785398163398</offset>
    </plugin>
    <plugin filename="libroboticsgroup_gazebo_mimic_joint_plugin.so" name="RThumb1">
      <joint>RHand</joint>
      <mimicJoint>RThumb1</mimicJoint>
      <multiplier>-0.785398163398</multiplier>
      <offset>0.785398163398</offset>
    </plugin>
    <plugin filename="libroboticsgroup_gazebo_mimic_joint_plugin.so" name="RThumb2">
      <joint>RHand</joint>
      <mimicJoint>RThumb2</mimicJoint>
      <multiplier>-0.785398163398</multiplier>
      <offset>0.785398163398</offset>
    </plugin>
    <plugin filename="libroboticsgroup_gazebo_disable_link_plugin.so" name="LFinger11_link">
      <link>LFinger11_link</link>
    </plugin>
    <plugin filename="libroboticsgroup_gazebo_disable_link_plugin.so" name="LFinger12_link">
      <link>LFinger12_link</link>
    </plugin>
    <plugin filename="libroboticsgroup_gazebo_disable_link_plugin.so" name="LFinger13_link">
      <link>LFinger13_link</link>
    </plugin>
    <plugin filename="libroboticsgroup_gazebo_disable_link_plugin.so" name="LFinger21_link">
      <link>LFinger21_link</link>
    </plugin>
    <plugin filename="libroboticsgroup_gazebo_disable_link_plugin.so" name="LFinger22_link">
      <link>LFinger22_link</link>
    </plugin>
    <plugin filename="libroboticsgroup_gazebo_disable_link_plugin.so" name="LFinger23_link">
      <link>LFinger23_link</link>
    </plugin>
    <plugin filename="libroboticsgroup_gazebo_disable_link_plugin.so" name="LFinger31_link">
      <link>LFinger31_link</link>
    </plugin>
    <plugin filename="libroboticsgroup_gazebo_disable_link_plugin.so" name="LFinger32_link">
      <link>LFinger32_link</link>
    </plugin>
    <plugin filename="libroboticsgroup_gazebo_disable_link_plugin.so" name="LFinger33_link">
      <link>LFinger33_link</link>
    </plugin>
    <plugin filename="libroboticsgroup_gazebo_disable_link_plugin.so" name="LThumb1_link">
      <link>LThumb1_link</link>
    </plugin>
    <plugin filename="libroboticsgroup_gazebo_disable_link_plugin.so" name="LThumb2_link">
      <link>LThumb2_link</link>
    </plugin>
    <plugin filename="libroboticsgroup_gazebo_disable_link_plugin.so" name="l_gripper">
      <link>l_gripper</link>
    </plugin>
    <plugin filename="libroboticsgroup_gazebo_disable_link_plugin.so" name="RFinger11_link">
      <link>RFinger11_link</link>
    </plugin>
    <plugin filename="libroboticsgroup_gazebo_disable_link_plugin.so" name="RFinger12_link">
      <link>RFinger12_link</link>
    </plugin>
    <plugin filename="libroboticsgroup_gazebo_disable_link_plugin.so" name="RFinger13_link">
      <link>RFinger13_link</link>
    </plugin>
    <plugin filename="libroboticsgroup_gazebo_disable_link_plugin.so" name="RFinger21_link">
      <link>RFinger21_link</link>
    </plugin>
    <plugin filename="libroboticsgroup_gazebo_disable_link_plugin.so" name="RFinger22_link">
      <link>RFinger22_link</link>
    </plugin>
    <plugin filename="libroboticsgroup_gazebo_disable_link_plugin.so" name="RFinger23_link">
      <link>RFinger23_link</link>
    </plugin>
    <plugin filename="libroboticsgroup_gazebo_disable_link_plugin.so" name="RFinger31_link">
      <link>RFinger31_link</link>
    </plugin>
    <plugin filename="libroboticsgroup_gazebo_disable_link_plugin.so" name="RFinger32_link">
      <link>RFinger32_link</link>
    </plugin>
    <plugin filename="libroboticsgroup_gazebo_disable_link_plugin.so" name="RFinger33_link">
      <link>RFinger33_link</link>
    </plugin>
    <plugin filename="libroboticsgroup_gazebo_disable_link_plugin.so" name="RThumb1_link">
      <link>RThumb1_link</link>
    </plugin>
    <plugin filename="libroboticsgroup_gazebo_disable_link_plugin.so" name="RThumb2_link">
      <link>RThumb2_link</link>
    </plugin>
    <plugin filename="libroboticsgroup_gazebo_disable_link_plugin.so" name="r_gripper">
      <link>r_gripper</link>
    </plugin>
  </gazebo>
  <!-- END OF GAZEBO ROS CONTROL PLUGIN -->
  <!-- GAZEBO MATERIALS -->
  <gazebo reference="torso">
    <mu1>0.5</mu1>
    <mu2>0.5</mu2>
    <selfCollide>false</selfCollide>
    <turnGravityOff>false</turnGravityOff>
  </gazebo>
  <gazebo reference="body">
    <mu1>0.5</mu1>
    <mu2>0.5</mu2>
    <selfCollide>false</selfCollide>
    <turnGravityOff>false</turnGravityOff>
  </gazebo>
  <gazebo reference="Neck">
    <mu1>0.5</mu1>
    <mu2>0.5</mu2>
    <selfCollide>false</selfCollide>
    <turnGravityOff>false</turnGravityOff>
  </gazebo>
  <gazebo reference="Head">
    <mu1>0.5</mu1>
    <mu2>0.5</mu2>
    <selfCollide>false</selfCollide>
    <turnGravityOff>false</turnGravityOff>
  </gazebo>
  <gazebo reference="gaze">
    <mu1>0.5</mu1>
    <mu2>0.5</mu2>
    <selfCollide>false</selfCollide>
    <turnGravityOff>false</turnGravityOff>
  </gazebo>
  <!-- ARMS -->
  <gazebo reference="LShoulder">
    <mu1>0.5</mu1>
    <mu2>0.5</mu2>
    <selfCollide>false</selfCollide>
    <turnGravityOff>false</turnGravityOff>
  </gazebo>
  <gazebo reference="LShoulderYaw_link">
    <mu1>0.5</mu1>
    <mu2>0.5</mu2>
    <selfCollide>false</selfCollide>
    <turnGravityOff>false</turnGravityOff>
  </gazebo>
  <gazebo reference="LForeArm">
    <mu1>0.5</mu1>
    <mu2>0.5</mu2>
    <selfCollide>false</selfCollide>
    <turnGravityOff>false</turnGravityOff>
  </gazebo>
  <gazebo reference="LElbow">
    <mu1>0.5</mu1>
    <mu2>0.5</mu2>
    <selfCollide>false</selfCollide>
    <turnGravityOff>false</turnGravityOff>
  </gazebo>
  <gazebo reference="LWristRoll_link">
    <mu1>0.5</mu1>
    <mu2>0.5</mu2>
    <selfCollide>false</selfCollide>
    <turnGravityOff>false</turnGravityOff>
  </gazebo>
  <gazebo reference="LWristYaw_link">
    <mu1>0.5</mu1>
    <mu2>0.5</mu2>
    <selfCollide>false</selfCollide>
    <turnGravityOff>false</turnGravityOff>
  </gazebo>
  <gazebo reference="l_wrist">
    <mu1>0.5</mu1>
    <mu2>0.5</mu2>
    <selfCollide>false</selfCollide>
    <turnGravityOff>false</turnGravityOff>
  </gazebo>
  <gazebo reference="l_gripper">
    <mu1>0.5</mu1>
    <mu2>0.5</mu2>
    <selfCollide>false</selfCollide>
    <turnGravityOff>true</turnGravityOff>
  </gazebo>
  <gazebo reference="RShoulder">
    <mu1>0.5</mu1>
    <mu2>0.5</mu2>
    <selfCollide>false</selfCollide>
    <turnGravityOff>false</turnGravityOff>
  </gazebo>
  <gazebo reference="RShoulderYaw_link">
    <mu1>0.5</mu1>
    <mu2>0.5</mu2>
    <selfCollide>false</selfCollide>
    <turnGravityOff>false</turnGravityOff>
  </gazebo>
  <gazebo reference="RForeArm">
    <mu1>0.5</mu1>
    <mu2>0.5</mu2>
    <selfCollide>false</selfCollide>
    <turnGravityOff>false</turnGravityOff>
  </gazebo>
  <gazebo reference="RElbow">
    <mu1>0.5</mu1>
    <mu2>0.5</mu2>
    <selfCollide>false</selfCollide>
    <turnGravityOff>false</turnGravityOff>
  </gazebo>
  <gazebo reference="RWristRoll_link">
    <mu1>0.5</mu1>
    <mu2>0.5</mu2>
    <selfCollide>false</selfCollide>
    <turnGravityOff>false</turnGravityOff>
  </gazebo>
  <gazebo reference="RWristYaw_link">
    <mu1>0.5</mu1>
    <mu2>0.5</mu2>
    <selfCollide>false</selfCollide>
    <turnGravityOff>false</turnGravityOff>
  </gazebo>
  <gazebo reference="r_wrist">
    <mu1>0.5</mu1>
    <mu2>0.5</mu2>
    <selfCollide>false</selfCollide>
    <turnGravityOff>false</turnGravityOff>
  </gazebo>
  <gazebo reference="r_gripper">
    <mu1>0.5</mu1>
    <mu2>0.5</mu2>
    <selfCollide>false</selfCollide>
    <turnGravityOff>true</turnGravityOff>
  </gazebo>
  <gazebo reference="LFinger11_link">
    <mu1>0.5</mu1>
    <mu2>0.5</mu2>
    <selfCollide>false</selfCollide>
    <turnGravityOff>true</turnGravityOff>
  </gazebo>
  <gazebo reference="LFinger12_link">
    <mu1>0.5</mu1>
    <mu2>0.5</mu2>
    <selfCollide>false</selfCollide>
    <turnGravityOff>true</turnGravityOff>
  </gazebo>
  <gazebo reference="LFinger13_link">
    <mu1>0.5</mu1>
    <mu2>0.5</mu2>
    <selfCollide>false</selfCollide>
    <turnGravityOff>true</turnGravityOff>
  </gazebo>
  <gazebo reference="LFinger21_link">
    <mu1>0.5</mu1>
    <mu2>0.5</mu2>
    <selfCollide>false</selfCollide>
    <turnGravityOff>true</turnGravityOff>
  </gazebo>
  <gazebo reference="LFinger22_link">
    <mu1>0.5</mu1>
    <mu2>0.5</mu2>
    <selfCollide>false</selfCollide>
    <turnGravityOff>true</turnGravityOff>
  </gazebo>
  <gazebo reference="LFinger23_link">
    <mu1>0.5</mu1>
    <mu2>0.5</mu2>
    <selfCollide>false</selfCollide>
    <turnGravityOff>true</turnGravityOff>
  </gazebo>
  <gazebo reference="LFinger31_link">
    <mu1>0.5</mu1>
    <mu2>0.5</mu2>
    <selfCollide>false</selfCollide>
    <turnGravityOff>true</turnGravityOff>
  </gazebo>
  <gazebo reference="LFinger32_link">
    <mu1>0.5</mu1>
    <mu2>0.5</mu2>
    <selfCollide>false</selfCollide>
    <turnGravityOff>true</turnGravityOff>
  </gazebo>
  <gazebo reference="LFinger33_link">
    <mu1>0.5</mu1>
    <mu2>0.5</mu2>
    <selfCollide>false</selfCollide>
    <turnGravityOff>true</turnGravityOff>
  </gazebo>
  <gazebo reference="LThumb1_link">
    <mu1>0.5</mu1>
    <mu2>0.5</mu2>
    <selfCollide>false</selfCollide>
    <turnGravityOff>true</turnGravityOff>
  </gazebo>
  <gazebo reference="LThumb2_link">
    <mu1>0.5</mu1>
    <mu2>0.5</mu2>
    <selfCollide>false</selfCollide>
    <turnGravityOff>true</turnGravityOff>
  </gazebo>
  <gazebo reference="LHipYaw_link">
    <mu1>0.5</mu1>
    <mu2>0.5</mu2>
    <selfCollide>false</selfCollide>
    <turnGravityOff>false</turnGravityOff>
  </gazebo>
  <gazebo reference="LHip">
    <mu1>0.5</mu1>
    <mu2>0.5</mu2>
    <selfCollide>false</selfCollide>
    <turnGravityOff>false</turnGravityOff>
  </gazebo>
  <gazebo reference="LThigh">
    <mu1>0.5</mu1>
    <mu2>0.5</mu2>
    <selfCollide>false</selfCollide>
    <turnGravityOff>false</turnGravityOff>
  </gazebo>
  <gazebo reference="LTibia">
    <mu1>0.5</mu1>
    <mu2>0.5</mu2>
    <selfCollide>false</selfCollide>
    <turnGravityOff>false</turnGravityOff>
  </gazebo>
  <gazebo reference="LAnklePitch_link">
    <mu1>0.5</mu1>
    <mu2>0.5</mu2>
    <selfCollide>false</selfCollide>
    <turnGravityOff>false</turnGravityOff>
  </gazebo>
  <gazebo reference="l_ankle">
    <mu1>0.5</mu1>
    <mu2>0.5</mu2>
    <selfCollide>false</selfCollide>
    <turnGravityOff>false</turnGravityOff>
    <fdir1>1 0 0</fdir1>
    <maxVel>0.1</maxVel>
    <minDepth>0.003</minDepth>
  </gazebo>
  <gazebo reference="RHipYaw_link">
    <mu1>0.5</mu1>
    <mu2>0.5</mu2>
    <selfCollide>false</selfCollide>
    <turnGravityOff>false</turnGravityOff>
  </gazebo>
  <gazebo reference="RHip">
    <mu1>0.5</mu1>
    <mu2>0.5</mu2>
    <selfCollide>false</selfCollide>
    <turnGravityOff>false</turnGravityOff>
  </gazebo>
  <gazebo reference="RThigh">
    <mu1>0.5</mu1>
    <mu2>0.5</mu2>
    <selfCollide>false</selfCollide>
    <turnGravityOff>false</turnGravityOff>
  </gazebo>
  <gazebo reference="RTibia">
    <mu1>0.5</mu1>
    <mu2>0.5</mu2>
    <selfCollide>false</selfCollide>
    <turnGravityOff>false</turnGravityOff>
  </gazebo>
  <gazebo reference="RAnklePitch_link">
    <mu1>0.5</mu1>
    <mu2>0.5</mu2>
    <selfCollide>false</selfCollide>
    <turnGravityOff>false</turnGravityOff>
  </gazebo>
  <gazebo reference="r_ankle">
    <mu1>0.5</mu1>
    <mu2>0.5</mu2>
    <selfCollide>false</selfCollide>
    <turnGravityOff>false</turnGravityOff>
    <fdir1>1 0 0</fdir1>
    <maxVel>0.1</maxVel>
    <minDepth>0.003</minDepth>
  </gazebo>
  <gazebo reference="RFinger11_link">
    <mu1>0.5</mu1>
    <mu2>0.5</mu2>
    <selfCollide>false</selfCollide>
    <turnGravityOff>true</turnGravityOff>
  </gazebo>
  <gazebo reference="RFinger12_link">
    <mu1>0.5</mu1>
    <mu2>0.5</mu2>
    <selfCollide>false</selfCollide>
    <turnGravityOff>true</turnGravityOff>
  </gazebo>
  <gazebo reference="RFinger13_link">
    <mu1>0.5</mu1>
    <mu2>0.5</mu2>
    <selfCollide>false</selfCollide>
    <turnGravityOff>true</turnGravityOff>
  </gazebo>
  <gazebo reference="RFinger21_link">
    <mu1>0.5</mu1>
    <mu2>0.5</mu2>
    <selfCollide>false</selfCollide>
    <turnGravityOff>true</turnGravityOff>
  </gazebo>
  <gazebo reference="RFinger22_link">
    <mu1>0.5</mu1>
    <mu2>0.5</mu2>
    <selfCollide>false</selfCollide>
    <turnGravityOff>true</turnGravityOff>
  </gazebo>
  <gazebo reference="RFinger23_link">
    <mu1>0.5</mu1>
    <mu2>0.5</mu2>
    <selfCollide>false</selfCollide>
    <turnGravityOff>true</turnGravityOff>
  </gazebo>
  <gazebo reference="RFinger31_link">
    <mu1>0.5</mu1>
    <mu2>0.5</mu2>
    <selfCollide>false</selfCollide>
    <turnGravityOff>true</turnGravityOff>
  </gazebo>
  <gazebo reference="RFinger32_link">
    <mu1>0.5</mu1>
    <mu2>0.5</mu2>
    <selfCollide>false</selfCollide>
    <turnGravityOff>true</turnGravityOff>
  </gazebo>
  <gazebo reference="RFinger33_link">
    <mu1>0.5</mu1>
    <mu2>0.5</mu2>
    <selfCollide>false</selfCollide>
    <turnGravityOff>true</turnGravityOff>
  </gazebo>
  <gazebo reference="RThumb1_link">
    <mu1>0.5</mu1>
    <mu2>0.5</mu2>
    <selfCollide>false</selfCollide>
    <turnGravityOff>true</turnGravityOff>
  </gazebo>
  <gazebo reference="RThumb2_link">
    <mu1>0.5</mu1>
    <mu2>0.5</mu2>
    <selfCollide>false</selfCollide>
    <turnGravityOff>true</turnGravityOff>
  </gazebo>
  <!--

        RGB CAMERAS: Working
-->
  <gazebo reference="CameraRightEye_frame">
    <sensor name="CameraRightEye" type="camera">
      <update_rate>5.0</update_rate>
      <camera name="camera/right">
        <horizontal_fov>1.06290551</horizontal_fov>
        <image>
          <width>640</width>
          <height>480</height>
          <format>R8G8B8</format>
        </image>
        <clip>
          <near>0.3</near>
          <far>500</far>
        </clip>
        <noise>
          <type>gaussian</type>
          <mean>0.0</mean>
          <stddev>0.007</stddev>
        </noise>
      </camera>
      <plugin filename="libgazebo_ros_camera.so" name="camera_controller">
        <robotNamespace>romeo_robot</robotNamespace>
        <alwaysOn>true</alwaysOn>
        <updateRate>5.0</updateRate>
        <cameraName>camera_right</cameraName>
        <imageTopicName>image_raw</imageTopicName>
        <cameraInfoTopicName>camera_info</cameraInfoTopicName>
        <frameName>CameraRightEye_optical_frame</frameName>
        <hackBaseline>0.07</hackBaseline>
        <distortionK1>-0.0545211</distortionK1>
        <distortionK2>0.06919734</distortionK2>
        <distortionK3>-0.0241095</distortionK3>
        <distortionT1>-0.0112245</distortionT1>
        <distortionT2>0.0</distortionT2>
      </plugin>
    </sensor>
  </gazebo>
  <gazebo reference="CameraLeftEye_frame">
    <sensor name="CameraLeftEye" type="camera">
      <update_rate>5.0</update_rate>
      <camera name="camera/left">
        <horizontal_fov>1.06290551</horizontal_fov>
        <image>
          <width>640</width>
          <height>480</height>
          <format>R8G8B8</format>
        </image>
        <clip>
          <near>0.05</near>
          <far>500</far>
        </clip>
        <noise>
          <type>gaussian</type>
          <mean>0.0</mean>
          <stddev>0.007</stddev>
        </noise>
      </camera>
      <plugin filename="libgazebo_ros_camera.so" name="camera_controller">
        <robotNamespace>/romeo_robot</robotNamespace>
        <alwaysOn>true</alwaysOn>
        <updateRate>5.0</updateRate>
        <cameraName>camera_left</cameraName>
        <imageTopicName>image_raw</imageTopicName>
        <cameraInfoTopicName>camera_info</cameraInfoTopicName>
        <frameName>CameraLeftEye_optical_frame</frameName>
        <hackBaseline>0.07</hackBaseline>
        <distortionK1>-0.0648764</distortionK1>
        <distortionK2>0.06125202</distortionK2>
        <distortionK3>0.00382815</distortionK3>
        <distortionT1>-0.00551104</distortionT1>
        <distortionT2>0.0</distortionT2>
      </plugin>
    </sensor>
  </gazebo>
  <gazebo reference="CameraDepth_frame">
    <sensor name="CameraDepth_frame_sensor" type="depth">
      <always_on>true</always_on>
      <update_rate>20.0</update_rate>
      <camera>
        <horizontal_fov>1.01229096616</horizontal_fov>
        <image>
          <format>B8G8R8</format>
          <width>320</width>
          <height>240</height>
        </image>
        <clip>
          <near>0.4</near>
          <far>8.0</far>
        </clip>
      </camera>
      <plugin filename="libgazebo_ros_openni_kinect.so" name="CameraDepth_frame_controller">
        <alwaysOn>true</alwaysOn>
        <updateRate>20.0</updateRate>
        <cameraName>romeo_robot/camera</cameraName>
        <imageTopicName>ir/image_raw</imageTopicName>
        <cameraInfoTopicName>depth/camera_info</cameraInfoTopicName>
        <depthImageTopicName>depth/image_raw</depthImageTopicName>
        <pointCloudTopicName>depth/points</pointCloudTopicName>
        <frameName>CameraDepth_optical_frame</frameName>
        <pointCloudCutoff>0.4</pointCloudCutoff>
        <pointCloudCutoffMax>8.0</pointCloudCutoffMax>
      </plugin>
    </sensor>
  </gazebo>
  <!-- HEAD -->
  <transmission name="NeckYaw_Transmission">
    <type>transmission_interface/SimpleTransmission</type>
    <joint name="NeckYaw">
      <hardwareInterface>PositionJointInterface</hardwareInterface>
    </joint>
    <actuator name="NeckYaw_Motor">
      <!-- Dummy Values -->
      <hardwareInterface>PositionJointInterface</hardwareInterface>
      <mechanicalReduction>145.2</mechanicalReduction>
    </actuator>
  </transmission>
  <transmission name="NeckPitch_Transmission">
    <type>transmission_interface/SimpleTransmission</type>
    <joint name="NeckPitch">
      <hardwareInterface>PositionJointInterface</hardwareInterface>
    </joint>
    <actuator name="NeckPitch_Motor">
      <!-- Dummy Values -->
      <hardwareInterface>PositionJointInterface</hardwareInterface>
      <mechanicalReduction>118.1</mechanicalReduction>
    </actuator>
  </transmission>
  <transmission name="HeadPitch_Transmission">
    <type>transmission_interface/SimpleTransmission</type>
    <joint name="HeadPitch">
      <hardwareInterface>PositionJointInterface</hardwareInterface>
    </joint>
    <actuator name="HeadPitch_Motor">
      <!-- Dummy Values -->
      <hardwareInterface>PositionJointInterface</hardwareInterface>
      <mechanicalReduction>130.8</mechanicalReduction>
    </actuator>
  </transmission>
  <transmission name="HeadRoll_Transmission">
    <type>transmission_interface/SimpleTransmission</type>
    <joint name="HeadRoll">
      <hardwareInterface>PositionJointInterface</hardwareInterface>
    </joint>
    <actuator name="HeadRoll_Motor">
      <!-- Dummy Values -->
      <hardwareInterface>PositionJointInterface</hardwareInterface>
      <mechanicalReduction>201.3</mechanicalReduction>
    </actuator>
  </transmission>
  <!-- ARMS -->
  <!-- XACRO -->
  <transmission name="LShoulderPitch_Transmission">
    <type>transmission_interface/SimpleTransmission</type>
    <joint name="LShoulderPitch">
      <hardwareInterface>PositionJointInterface</hardwareInterface>
    </joint>
    <actuator name="LShoulderPitch_Motor">
      <hardwareInterface>PositionJointInterface</hardwareInterface>
      <mechanicalReduction>249.7</mechanicalReduction>
    </actuator>
  </transmission>
  <transmission name="LShoulderYaw_Transmission">
    <type>transmission_interface/SimpleTransmission</type>
    <joint name="LShoulderYaw">
      <hardwareInterface>PositionJointInterface</hardwareInterface>
    </joint>
    <actuator name="LShoulderYaw_Motor">
      <hardwareInterface>PositionJointInterface</hardwareInterface>
      <mechanicalReduction>118.1</mechanicalReduction>
    </actuator>
  </transmission>
  <transmission name="LElbowRoll_Transmission">
    <type>transmission_interface/SimpleTransmission</type>
    <joint name="LElbowRoll">
      <hardwareInterface>PositionJointInterface</hardwareInterface>
    </joint>
    <actuator name="LElbowRoll_Motor">
      <hardwareInterface>PositionJointInterface</hardwareInterface>
      <mechanicalReduction>145.2</mechanicalReduction>
    </actuator>
  </transmission>
  <transmission name="LElbowYaw_Transmission">
    <type>transmission_interface/SimpleTransmission</type>
    <joint name="LElbowYaw">
      <hardwareInterface>PositionJointInterface</hardwareInterface>
    </joint>
    <actuator name="LElbowYaw_Motor">
      <hardwareInterface>PositionJointInterface</hardwareInterface>
      <mechanicalReduction>118.1</mechanicalReduction>
    </actuator>
  </transmission>
  <transmission name="LWristRoll_Transmission">
    <type>transmission_interface/SimpleTransmission</type>
    <joint name="LWristRoll">
      <hardwareInterface>PositionJointInterface</hardwareInterface>
    </joint>
    <actuator name="LWristRoll_Motor">
      <hardwareInterface>PositionJointInterface</hardwareInterface>
      <mechanicalReduction>201.3</mechanicalReduction>
    </actuator>
  </transmission>
  <transmission name="LWristYaw_Transmission">
    <type>transmission_interface/SimpleTransmission</type>
    <joint name="LWristYaw">
      <hardwareInterface>PositionJointInterface</hardwareInterface>
    </joint>
    <actuator name="LWristYaw_Motor">
      <hardwareInterface>PositionJointInterface</hardwareInterface>
      <mechanicalReduction>249.9</mechanicalReduction>
    </actuator>
  </transmission>
  <transmission name="LWristPitch_Transmission">
    <type>transmission_interface/SimpleTransmission</type>
    <joint name="LWristPitch">
      <hardwareInterface>PositionJointInterface</hardwareInterface>
    </joint>
    <actuator name="LWristPitch_Motor">
      <hardwareInterface>PositionJointInterface</hardwareInterface>
      <mechanicalReduction>173.2</mechanicalReduction>
    </actuator>
  </transmission>
  <transmission name="LHand_Transmission">
    <type>transmission_interface/SimpleTransmission</type>
    <joint name="LHand">
      <hardwareInterface>PositionJointInterface</hardwareInterface>
    </joint>
    <actuator name="LHand_Motor">
      <hardwareInterface>PositionJointInterface</hardwareInterface>
      <mechanicalReduction>13.03</mechanicalReduction>
    </actuator>
  </transmission>
  <transmission name="RShoulderPitch_Transmission">
    <type>transmission_interface/SimpleTransmission</type>
    <joint name="RShoulderPitch">
      <hardwareInterface>PositionJointInterface</hardwareInterface>
    </joint>
    <actuator name="RShoulderPitch_Motor">
      <hardwareInterface>PositionJointInterface</hardwareInterface>
      <mechanicalReduction>249.7</mechanicalReduction>
    </actuator>
  </transmission>
  <transmission name="RShoulderYaw_Transmission">
    <type>transmission_interface/SimpleTransmission</type>
    <joint name="RShoulderYaw">
      <hardwareInterface>PositionJointInterface</hardwareInterface>
    </joint>
    <actuator name="RShoulderYaw_Motor">
      <hardwareInterface>PositionJointInterface</hardwareInterface>
      <mechanicalReduction>118.1</mechanicalReduction>
    </actuator>
  </transmission>
  <transmission name="RElbowRoll_Transmission">
    <type>transmission_interface/SimpleTransmission</type>
    <joint name="RElbowRoll">
      <hardwareInterface>PositionJointInterface</hardwareInterface>
    </joint>
    <actuator name="RElbowRoll_Motor">
      <hardwareInterface>PositionJointInterface</hardwareInterface>
      <mechanicalReduction>145.2</mechanicalReduction>
    </actuator>
  </transmission>
  <transmission name="RElbowYaw_Transmission">
    <type>transmission_interface/SimpleTransmission</type>
    <joint name="RElbowYaw">
      <hardwareInterface>PositionJointInterface</hardwareInterface>
    </joint>
    <actuator name="RElbowYaw_Motor">
      <hardwareInterface>PositionJointInterface</hardwareInterface>
      <mechanicalReduction>118.1</mechanicalReduction>
    </actuator>
  </transmission>
  <transmission name="RWristRoll_Transmission">
    <type>transmission_interface/SimpleTransmission</type>
    <joint name="RWristRoll">
      <hardwareInterface>PositionJointInterface</hardwareInterface>
    </joint>
    <actuator name="RWristRoll_Motor">
      <hardwareInterface>PositionJointInterface</hardwareInterface>
      <mechanicalReduction>201.3</mechanicalReduction>
    </actuator>
  </transmission>
  <transmission name="RWristYaw_Transmission">
    <type>transmission_interface/SimpleTransmission</type>
    <joint name="RWristYaw">
      <hardwareInterface>PositionJointInterface</hardwareInterface>
    </joint>
    <actuator name="RWristYaw_Motor">
      <hardwareInterface>PositionJointInterface</hardwareInterface>
      <mechanicalReduction>249.9</mechanicalReduction>
    </actuator>
  </transmission>
  <transmission name="RWristPitch_Transmission">
    <type>transmission_interface/SimpleTransmission</type>
    <joint name="RWristPitch">
      <hardwareInterface>PositionJointInterface</hardwareInterface>
    </joint>
    <actuator name="RWristPitch_Motor">
      <hardwareInterface>PositionJointInterface</hardwareInterface>
      <mechanicalReduction>173.2</mechanicalReduction>
    </actuator>
  </transmission>
  <transmission name="RHand_Transmission">
    <type>transmission_interface/SimpleTransmission</type>
    <joint name="RHand">
      <hardwareInterface>PositionJointInterface</hardwareInterface>
    </joint>
    <actuator name="RHand_Motor">
      <hardwareInterface>PositionJointInterface</hardwareInterface>
      <mechanicalReduction>13.03</mechanicalReduction>
    </actuator>
  </transmission>
  <transmission name="TrunkYaw_Transmission">
    <type>transmission_interface/SimpleTransmission</type>
    <joint name="TrunkYaw">
      <hardwareInterface>PositionJointInterface</hardwareInterface>
    </joint>
    <actuator name="TrunkYaw_Motor">
      <!-- Dummy Values -->
      <hardwareInterface>PositionJointInterface</hardwareInterface>
      <mechanicalReduction>292.47</mechanicalReduction>
    </actuator>
  </transmission>
  <!-- LEGS -->
  <transmission name="LHipYaw_Transmission">
    <type>transmission_interface/SimpleTransmission</type>
    <joint name="LHipYaw">
      <hardwareInterface>PositionJointInterface</hardwareInterface>
    </joint>
    <actuator name="LHipYaw_Motor">
      <!-- Dummy Values -->
      <hardwareInterface>PositionJointInterface</hardwareInterface>
      <mechanicalReduction>2696.58</mechanicalReduction>
    </actuator>
  </transmission>
  <transmission name="LHipRoll_Transmission">
    <type>transmission_interface/SimpleTransmission</type>
    <joint name="LHipRoll">
      <hardwareInterface>PositionJointInterface</hardwareInterface>
    </joint>
    <actuator name="LHipRoll_Motor">
      <!-- Dummy Values -->
      <hardwareInterface>PositionJointInterface</hardwareInterface>
      <mechanicalReduction>160.448</mechanicalReduction>
    </actuator>
  </transmission>
  <transmission name="LHipPitch_Transmission">
    <type>transmission_interface/SimpleTransmission</type>
    <joint name="LHipPitch">
      <hardwareInterface>PositionJointInterface</hardwareInterface>
    </joint>
    <actuator name="LHipPitch_Motor">
      <!-- Dummy Values -->
      <hardwareInterface>PositionJointInterface</hardwareInterface>
      <mechanicalReduction>243.736</mechanicalReduction>
    </actuator>
  </transmission>
  <transmission name="LKneePitch_Transmission">
    <type>transmission_interface/SimpleTransmission</type>
    <joint name="LKneePitch">
      <hardwareInterface>PositionJointInterface</hardwareInterface>
    </joint>
    <actuator name="LKneePitch_Motor">
      <!-- Dummy Values -->
      <hardwareInterface>PositionJointInterface</hardwareInterface>
      <mechanicalReduction>100.0</mechanicalReduction>
    </actuator>
  </transmission>
  <transmission name="LAnklePitch_Transmission">
    <type>transmission_interface/SimpleTransmission</type>
    <joint name="LAnklePitch">
      <hardwareInterface>PositionJointInterface</hardwareInterface>
    </joint>
    <actuator name="LAnklePitch_Motor">
      <!-- Dummy Values -->
      <hardwareInterface>PositionJointInterface</hardwareInterface>
      <mechanicalReduction>247.338</mechanicalReduction>
    </actuator>
  </transmission>
  <transmission name="LAnkleRoll_Transmission">
    <type>transmission_interface/SimpleTransmission</type>
    <joint name="LAnkleRoll">
      <hardwareInterface>PositionJointInterface</hardwareInterface>
    </joint>
    <actuator name="LAnkleRoll_Motor">
      <!-- Dummy Values -->
      <hardwareInterface>PositionJointInterface</hardwareInterface>
      <mechanicalReduction>168.65</mechanicalReduction>
    </actuator>
  </transmission>
  <transmission name="RHipYaw_Transmission">
    <type>transmission_interface/SimpleTransmission</type>
    <joint name="RHipYaw">
      <hardwareInterface>PositionJointInterface</hardwareInterface>
    </joint>
    <actuator name="RHipYaw_Motor">
      <!-- Dummy Values -->
      <hardwareInterface>PositionJointInterface</hardwareInterface>
      <mechanicalReduction>2696.58</mechanicalReduction>
    </actuator>
  </transmission>
  <transmission name="RHipRoll_Transmission">
    <type>transmission_interface/SimpleTransmission</type>
    <joint name="RHipRoll">
      <hardwareInterface>PositionJointInterface</hardwareInterface>
    </joint>
    <actuator name="RHipRoll_Motor">
      <!-- Dummy Values -->
      <hardwareInterface>PositionJointInterface</hardwareInterface>
      <mechanicalReduction>160.448</mechanicalReduction>
    </actuator>
  </transmission>
  <transmission name="RHipPitch_Transmission">
    <type>transmission_interface/SimpleTransmission</type>
    <joint name="RHipPitch">
      <hardwareInterface>PositionJointInterface</hardwareInterface>
    </joint>
    <actuator name="RHipPitch_Motor">
      <!-- Dummy Values -->
      <hardwareInterface>PositionJointInterface</hardwareInterface>
      <mechanicalReduction>243.736</mechanicalReduction>
    </actuator>
  </transmission>
  <transmission name="RKneePitch_Transmission">
    <type>transmission_interface/SimpleTransmission</type>
    <joint name="RKneePitch">
      <hardwareInterface>PositionJointInterface</hardwareInterface>
    </joint>
    <actuator name="RKneePitch_Motor">
      <!-- Dummy Values -->
      <hardwareInterface>PositionJointInterface</hardwareInterface>
      <mechanicalReduction>100.0</mechanicalReduction>
    </actuator>
  </transmission>
  <transmission name="RAnklePitch_Transmission">
    <type>transmission_interface/SimpleTransmission</type>
    <joint name="RAnklePitch">
      <hardwareInterface>PositionJointInterface</hardwareInterface>
    </joint>
    <actuator name="RAnklePitch_Motor">
      <!-- Dummy Values -->
      <hardwareInterface>PositionJointInterface</hardwareInterface>
      <mechanicalReduction>247.338</mechanicalReduction>
    </actuator>
  </transmission>
  <transmission name="RAnkleRoll_Transmission">
    <type>transmission_interface/SimpleTransmission</type>
    <joint name="RAnkleRoll">
      <hardwareInterface>PositionJointInterface</hardwareInterface>
    </joint>
    <actuator name="RAnkleRoll_Motor">
      <!-- Dummy Values -->
      <hardwareInterface>PositionJointInterface</hardwareInterface>
      <mechanicalReduction>168.65</mechanicalReduction>
    </actuator>
  </transmission>
</robot>
